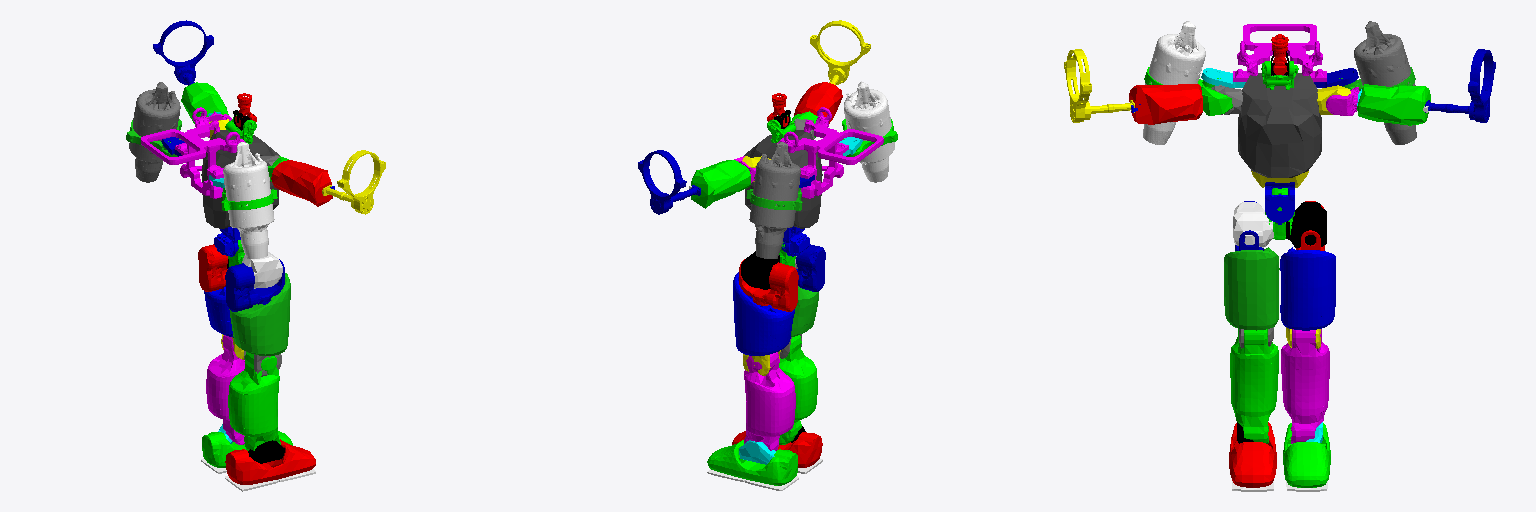
--- Render facts (derived) ---
3 views of the same robot in one strip: view 1: azimuth 30°, elevation 25°; view 2: azimuth 150°, elevation 25°; view 3: azimuth 270°, elevation 25° (orthographic).
Model iCub with 64 links and 63 joints (26 revolute, 37 fixed), rooted at root_link, posed all joints at 0 but 2 set to mid-range because 0 is outside their limits (l_shoulder_roll = 1.53, r_shoulder_roll = 1.53).
Links seen in each view (by area): view 1: r_lower_leg, chest_r_jet_turbine, chest_jetpack, r_hip_3, chest_l_jet_turbine, r_ankle_2, l_lower_leg, r_upper_arm, r_hip_2, chest, r_forearm, l_hip_2 (+8 smaller); view 2: l_lower_leg, chest_l_jet_turbine, chest_jetpack, l_hip_3, chest_r_jet_turbine, l_ankle_2, r_lower_leg, l_upper_arm, l_hip_2, chest, l_forearm, r_hip_2 (+8 smaller); view 3: chest, r_lower_leg, l_lower_leg, l_hip_3, r_hip_3, chest_l_jet_turbine, chest_r_jet_turbine, chest_jetpack, r_upper_arm, l_upper_arm, l_ankle_2, r_ankle_2 (+10 smaller).
Boxes of the visible links, x1,y1,x2,y2 form: r_lower_leg: [228, 352, 280, 450]; chest_r_jet_turbine: [223, 142, 274, 258]; chest_jetpack: [141, 107, 245, 198]; r_hip_3: [229, 273, 290, 355]; chest_l_jet_turbine: [129, 82, 180, 182]; r_ankle_2: [225, 439, 315, 484]; l_lower_leg: [206, 335, 244, 444]; r_upper_arm: [271, 160, 332, 206]; r_hip_2: [225, 259, 284, 311]; chest: [201, 130, 279, 228]; r_forearm: [322, 150, 385, 214]; l_hip_2: [198, 244, 227, 291]; l_lower_leg: [744, 352, 795, 450]; chest_l_jet_turbine: [749, 142, 800, 258]; chest_jetpack: [777, 107, 883, 198]; l_hip_3: [733, 272, 794, 355]; chest_r_jet_turbine: [844, 81, 894, 182]; l_ankle_2: [707, 440, 797, 485]; r_lower_leg: [779, 335, 817, 444]; l_upper_arm: [691, 160, 750, 208]; l_hip_2: [739, 259, 798, 311]; chest: [744, 130, 822, 228]; l_forearm: [638, 150, 700, 214]; r_hip_2: [796, 244, 825, 291]; chest: [1238, 73, 1321, 177]; r_lower_leg: [1230, 328, 1278, 443]; l_lower_leg: [1281, 329, 1329, 443]; l_hip_3: [1280, 247, 1335, 330]; r_hip_3: [1224, 247, 1279, 330]; chest_l_jet_turbine: [1354, 21, 1416, 144]; chest_r_jet_turbine: [1143, 21, 1205, 144]; chest_jetpack: [1233, 24, 1326, 81]; r_upper_arm: [1129, 84, 1202, 124]; l_upper_arm: [1357, 84, 1430, 125]; l_ankle_2: [1283, 423, 1330, 487]; r_ankle_2: [1229, 422, 1276, 487].
Bounding box of the posed robot: 0.4587 × 1.04 × 1.13 m (x, y, z).
44 mesh visuals loaded from 47 distinct referenced files (44 ASCII STL); not drawn: 3 (reference not matched to a file when rendering).

The robot description file, URDF, robot "iCub":
<robot name="iCub">
  <link name="root_link">
    <inertial>
      <origin xyz="0.0035506 -0.00014959200000000001 0.024519000000000013" rpy="0 0 -1.5707963267948966"/>
      <mass value="2.5751"/>
      <inertia ixx="0.004051489764137304" ixy="-2.0525354991945143e-06" ixz="-1.200186769383287e-05" iyy="0.004466379288694287" iyz="0.00011702292411912923" izz="0.002537512875376926"/>
    </inertial>
    <visual>
      <origin xyz="0 0 0.313858" rpy="0 0 -1.5707963267948966"/>
      <geometry>
        <mesh filename="package://iRonCub-Mk3/iRonCub/meshes/stl/sim_icub3_root_link_prt.stl" scale="0.001 0.001 0.001"/>
      </geometry>
      <material name="green">
        <color rgba="0 1 0 1"/>
      </material>
    </visual>
    <collision>
      <origin xyz="0 0 0.313858" rpy="0 0 -1.5707963267948966"/>
      <geometry>
        <mesh filename="package://iRonCub-Mk3/iRonCub/meshes/stl/sim_icub3_root_link_prt.stl" scale="0.001 0.001 0.001"/>
      </geometry>
    </collision>
  </link>
  <link name="l_hip_1">
    <inertial>
      <origin xyz="-0.004074100000000001 0.028123299999999997 -0.0007250000000000312" rpy="0 0 -1.5707963267948966"/>
      <mass value="2.1611"/>
      <inertia ixx="0.002595352643142238" ixy="-6.263538591577025e-05" ixz="2.7731363927618977e-06" iyy="0.0021193350821535318" iyz="-1.2725390435109447e-05" izz="0.0023619854835245473"/>
    </inertial>
    <visual>
      <origin xyz="-0.021600000000000064 -0.04044999999999981 0.31385800000000025" rpy="0 0 -1.5707963267948966"/>
      <geometry>
        <mesh filename="package://iRonCub-Mk3/iRonCub/meshes/stl/sim_icub3_l_hip_1_prt.stl" scale="0.001 0.001 0.001"/>
      </geometry>
      <material name="black">
        <color rgba="0 0 0 1"/>
      </material>
    </visual>
    <collision>
      <origin xyz="-0.021600000000000064 -0.04044999999999981 0.31385800000000025" rpy="0 0 -1.5707963267948966"/>
      <geometry>
        <mesh filename="package://iRonCub-Mk3/iRonCub/meshes/stl/sim_icub3_l_hip_1_prt.stl" scale="0.001 0.001 0.001"/>
      </geometry>
    </collision>
  </link>
  <joint name="l_hip_pitch" type="revolute">
    <origin xyz="0.0216 0.04045000000000001 0" rpy="0 0 0"/>
    <axis xyz="0.0 -1.0 0.0"/>
    <parent link="root_link"/>
    <child link="l_hip_1"/>
    <limit effort="50000" lower="-0.7853981633974483" upper="2.007128639793479" velocity="120.0"/>
    <dynamics damping="2.0" friction="0.0"/>
  </joint>
  <link name="l_hip_2">
    <inertial>
      <origin xyz="-0.003963800000000003 5.489999999999662e-05 -0.037538000000000016" rpy="0 0 -1.5707963267948966"/>
      <mass value="1.7731"/>
      <inertia ixx="0.005228411714595798" ixy="-4.083551966339624e-06" ixz="3.1651054869901453e-06" iyy="0.0029657585348029296" iyz="0.0009461829267401466" izz="0.0032766682222500967"/>
    </inertial>
    <visual>
      <origin xyz="0.025649999999999822 -0.07354999999999978 0.3228580000000002" rpy="0 0 -1.5707963267948966"/>
      <geometry>
        <mesh filename="package://iRonCub-Mk3/iRonCub/meshes/stl/sim_icub3_l_hip_2_prt.stl" scale="0.001 0.001 0.001"/>
      </geometry>
      <material name="red">
        <color rgba="1 0 0 1"/>
      </material>
    </visual>
    <collision>
      <origin xyz="0.025649999999999822 -0.07354999999999978 0.3228580000000002" rpy="0 0 -1.5707963267948966"/>
      <geometry>
        <mesh filename="package://iRonCub-Mk3/iRonCub/meshes/stl/sim_icub3_l_hip_2_prt.stl" scale="0.001 0.001 0.001"/>
      </geometry>
    </collision>
  </link>
  <joint name="l_hip_roll" type="revolute">
    <origin xyz="-0.04725 0.0331 -0.009000000000000008" rpy="0 0 0"/>
    <axis xyz="1.0 0.0 0.0"/>
    <parent link="l_hip_1"/>
    <child link="l_hip_2"/>
    <limit effort="50000" lower="-0.17453292519943295" upper="1.9547687622336491" velocity="120.0"/>
    <dynamics damping="2.0" friction="0.0"/>
  </joint>
  <link name="l_hip_3">
    <inertial>
      <origin xyz="0.0024416999999999998 -0.012306900000000003 -0.03819900000000004" rpy="0 0 -1.5707963267948966"/>
      <mass value="2.43975"/>
      <inertia ixx="0.0044412883972056874" ixy="3.3190647191151945e-06" ixz="-0.0001500433647365573" iyy="0.004161531735667295" iyz="1.0495343014441162e-05" izz="0.004168493190874654"/>
    </inertial>
    <visual>
      <origin xyz="-0.011050000000000178 -0.07354999999999977 0.41255800000000004" rpy="0 0 -1.5707963267948966"/>
      <geometry>
        <mesh filename="package://iRonCub-Mk3/iRonCub/meshes/stl/sim_icub3_l_hip_3_prt.stl" scale="0.001 0.001 0.001"/>
      </geometry>
      <material name="blue">
        <color rgba="0 0 1 1"/>
      </material>
    </visual>
    <collision>
      <origin xyz="-0.011050000000000178 -0.07354999999999977 0.41255800000000004" rpy="0 0 -1.5707963267948966"/>
      <geometry>
        <mesh filename="package://iRonCub-Mk3/iRonCub/meshes/stl/sim_icub3_l_hip_3_prt.stl" scale="0.001 0.001 0.001"/>
      </geometry>
    </collision>
  </link>
  <joint name="l_leg_ft_sensor" type="fixed">
    <origin xyz="0.036699999999999997 0 -0.08969999999999995" rpy="0 0 0"/>
    <parent link="l_hip_2"/>
    <child link="l_hip_3"/>
    <dynamics damping="0.1"/>
  </joint>
  <link name="l_upper_leg">
    <inertial>
      <origin xyz="0.005238099999999999 0.001499300000000009 -0.0518519999999999" rpy="0 0 -1.5707963267948966"/>
      <mass value="0.90926"/>
      <inertia ixx="0.0018580448030305287" ixy="2.4769869343548534e-05" ixz="-9.921040799831542e-05" iyy="0.0023253336863419895" iyz="0.00021961146368491691" izz="0.0010116953240355718"/>
    </inertial>
    <visual>
      <origin xyz="-0.011050000000000167 -0.05854999999999983 0.48345800000000017" rpy="0 0 -1.5707963267948966"/>
      <geometry>
        <mesh filename="package://iRonCub-Mk3/iRonCub/meshes/stl/sim_icub3_l_upper_leg_prt.stl" scale="0.001 0.001 0.001"/>
      </geometry>
      <material name="yellow">
        <color rgba="1 1 0 1"/>
      </material>
    </visual>
    <collision>
      <origin xyz="-0.011050000000000167 -0.05854999999999983 0.48345800000000017" rpy="0 0 -1.5707963267948966"/>
      <geometry>
        <mesh filename="package://iRonCub-Mk3/iRonCub/meshes/stl/sim_icub3_l_upper_leg_prt.stl" scale="0.001 0.001 0.001"/>
      </geometry>
    </collision>
  </link>
  <joint name="l_hip_yaw" type="revolute">
    <origin xyz="0 -0.015000000000000006 -0.07090000000000007" rpy="0 0 0"/>
    <axis xyz="0.0 0.0 1.0"/>
    <parent link="l_hip_3"/>
    <child link="l_upper_leg"/>
    <limit effort="50000" lower="-1.3962634015954636" upper="1.3962634015954636" velocity="120.0"/>
    <dynamics damping="2.0" friction="0.0"/>
  </joint>
  <link name="l_lower_leg">
    <inertial>
      <origin xyz="-0.0132211 -0.022063200000000005 -0.12639599999999995" rpy="0 0 -1.5707963267948966"/>
      <mass value="5.3241"/>
      <inertia ixx="0.05824701558729114" ixy="0.00010624602688798144" ixz="0.00032177799357201414" iyy="0.055706072617469723" iyz="-0.00018962183345080946" izz="0.006070627555679843"/>
    </inertial>
    <visual>
      <origin xyz="-0.026050000000000243 -0.08344999999999969 0.5896580000000001" rpy="0 0 -1.5707963267948966"/>
      <geometry>
        <mesh filename="package://iRonCub-Mk3/iRonCub/meshes/stl/sim_icub3_l_lower_leg_prt.stl" scale="0.001 0.001 0.001"/>
      </geometry>
      <material name="pink">
        <color rgba="1 0 1 1"/>
      </material>
    </visual>
    <collision>
      <origin xyz="-0.026050000000000243 -0.08344999999999969 0.5896580000000001" rpy="0 0 -1.5707963267948966"/>
      <geometry>
        <mesh filename="package://iRonCub-Mk3/iRonCub/meshes/stl/sim_icub3_l_lower_leg_prt.stl" scale="0.001 0.001 0.001"/>
      </geometry>
    </collision>
  </link>
  <joint name="l_knee" type="revolute">
    <origin xyz="0.015 0.024900000000000012 -0.10619999999999996" rpy="0 0 0"/>
    <axis xyz="0.0 -1.0 0.0"/>
    <parent link="l_upper_leg"/>
    <child link="l_lower_leg"/>
    <limit effort="50000" lower="-1.2217304763960306" upper="0.08726646259971647" velocity="120.0"/>
    <dynamics damping="2.0" friction="0.0"/>
  </joint>
  <link name="l_ankle_1">
    <inertial>
      <origin xyz="-0.0056708999999999996 -0.0004776000000000086 -0.015197000000000016" rpy="0 0 -1.5707963267948966"/>
      <mass value="0.36569"/>
      <inertia ixx="0.0006919069701304677" ixy="3.642221266176245e-05" ixz="6.0306968718434186e-05" iyy="0.00029801214087017225" iyz="-2.6804257582408287e-05" izz="0.0005496547611177806"/>
    </inertial>
    <visual>
      <origin xyz="-0.026050000000000052 -0.08295000000000005 0.8456470000000003" rpy="0 0 -1.5707963267948966"/>
      <geometry>
        <mesh filename="package://iRonCub-Mk3/iRonCub/meshes/stl/sim_icub3_l_ankle_1_prt.stl" scale="0.001 0.001 0.001"/>
      </geometry>
      <material name="cyan">
        <color rgba="0 1 1 1"/>
      </material>
    </visual>
    <collision>
      <origin xyz="-0.026050000000000052 -0.08295000000000005 0.8456470000000003" rpy="0 0 -1.5707963267948966"/>
      <geometry>
        <mesh filename="package://iRonCub-Mk3/iRonCub/meshes/stl/sim_icub3_l_ankle_1_prt.stl" scale="0.001 0.001 0.001"/>
      </geometry>
    </collision>
  </link>
  <joint name="l_ankle_pitch" type="revolute">
    <origin xyz="0 -0.0005000000000000004 -0.255989" rpy="0 0 0"/>
    <axis xyz="0.0 1.0 0.0"/>
    <parent link="l_lower_leg"/>
    <child link="l_ankle_1"/>
    <limit effort="50000" lower="-0.7853981633974483" upper="0.7853981633974483" velocity="120.0"/>
    <dynamics damping="2.0" friction="0.0"/>
  </joint>
  <link name="l_ankle_2">
    <inertial>
      <origin xyz="0.0417048 -5.500000000001337e-05 -0.02565099999999998" rpy="0 0 -1.5707963267948966"/>
      <mass value="1.53465"/>
      <inertia ixx="0.008276628548706496" ixy="5.786254688421673e-06" ixz="-4.092109028187411e-06" iyy="0.0017004608262408357" iyz="0.0012330199976826493" izz="0.008063087568467178"/>
    </inertial>
    <visual>
      <origin xyz="0.026699999999999342 -0.0647500000000001 0.8806470000000008" rpy="0 0 -1.5707963267948966"/>
      <geometry>
        <mesh filename="package://iRonCub-Mk3/iRonCub/meshes/stl/sim_icub3_l_ankle_2_prt.stl" scale="0.001 0.001 0.001"/>
      </geometry>
      <material name="green">
        <color rgba="0 1 0 1"/>
      </material>
    </visual>
    <collision>
      <origin xyz="0.026699999999999342 -0.0647500000000001 0.8806470000000008" rpy="0 0 -1.5707963267948966"/>
      <geometry>
        <mesh filename="package://iRonCub-Mk3/iRonCub/meshes/stl/sim_icub3_l_ankle_2_prt.stl" scale="0.001 0.001 0.001"/>
      </geometry>
    </collision>
  </link>
  <joint name="l_ankle_roll" type="revolute">
    <origin xyz="-0.052750000000000005 -0.018200000000000008 -0.03500000000000003" rpy="0 0 0"/>
    <axis xyz="1.0 0.0 0.0"/>
    <parent link="l_ankle_1"/>
    <child link="l_ankle_2"/>
    <limit effort="50000" lower="-0.4363323129985824" upper="0.4363323129985824" velocity="120.0"/>
    <dynamics damping="2.0" friction="0.0"/>
  </joint>
  <link name="l_foot_rear">
    <inertial>
      <origin xyz="0.0005056000000000001 3.350000000000575e-05 0.003658999999999968" rpy="0 0 -1.5707963267948966"/>
      <mass value="0.17851"/>
      <inertia ixx="0.00028386984946481193" ixy="-3.8140209422126887e-07" ixz="3.3779281136245455e-06" iyy="0.00022675202580603227" iyz="8.141588837428499e-06" izz="0.00036516477016163983"/>
    </inertial>
    <visual>
      <origin xyz="0.010699999999999342 -0.06475000000000009 0.9464470000000004" rpy="0 0 -1.5707963267948966"/>
      <geometry>
        <mesh filename="package://iRonCub-Mk3/iRonCub/meshes/stl/sim_icub3_l_foot_rear_prt.stl" scale="0.001 0.001 0.001"/>
      </geometry>
      <material name="l_foot_rear_color">
        <color rgba="1.0 1.0 1.0 1.0"/>
      </material>
    </visual>
    <collision>
      <origin xyz="0.010699999999999342 -0.06475000000000009 0.9464470000000004" rpy="0 0 -1.5707963267948966"/>
      <geometry>
        <mesh filename="package://iRonCub-Mk3/iRonCub/meshes/stl/sim_icub3_l_foot_rear_prt.stl" scale="0.001 0.001 0.001"/>
      </geometry>
    </collision>
  </link>
  <joint name="l_foot_rear_ft_sensor" type="fixed">
    <origin xyz="0.016 0 -0.06579999999999997" rpy="0 0 0"/>
    <parent link="l_ankle_2"/>
    <child link="l_foot_rear"/>
    <dynamics damping="0.1"/>
  </joint>
  <link name="l_sole"/>
  <joint name="l_sole_fixed_joint" type="fixed">
    <origin xyz="0.05963 0 0" rpy="0 0 0"/>
    <parent link="l_foot_rear"/>
    <child link="l_sole"/>
    <dynamics damping="0.1"/>
  </joint>
  <link name="l_sole_3"/>
  <joint name="l_sole_3_fixed_joint" type="fixed">
    <origin xyz="-0.035 -0.02475 0" rpy="0 0 0"/>
    <parent link="l_foot_rear"/>
    <child link="l_sole_3"/>
    <dynamics damping="0.1"/>
  </joint>
  <link name="l_sole_4"/>
  <joint name="l_sole_4_fixed_joint" type="fixed">
    <origin xyz="-0.035 0.03025 0" rpy="0 0 0"/>
    <parent link="l_foot_rear"/>
    <child link="l_sole_4"/>
    <dynamics damping="0.1"/>
  </joint>
  <link name="l_foot_front">
    <inertial>
      <origin xyz="7.700000000000762e-05 -3.990000000000937e-05 0.004256999999999955" rpy="0 0 -1.5707963267948966"/>
      <mass value="0.17896"/>
      <inertia ixx="0.00032486721722121964" ixy="3.5467003209527003e-07" ixz="2.7144049104682455e-07" iyy="0.00025600096782908466" iyz="3.4960507170104935e-05" izz="0.00037767895393194076"/>
    </inertial>
    <visual>
      <origin xyz="-0.10855000000000063 -0.06475000000000009 0.9464470000000004" rpy="0 0 -1.5707963267948966"/>
      <geometry>
        <mesh filename="package://iRonCub-Mk3/iRonCub/meshes/stl/sim_icub3_l_foot_front_prt.stl" scale="0.001 0.001 0.001"/>
      </geometry>
      <material name="l_foot_front_color">
        <color rgba="1.0 1.0 1.0 1.0"/>
      </material>
    </visual>
    <collision>
      <origin xyz="-0.10855000000000063 -0.06475000000000009 0.9464470000000004" rpy="0 0 -1.5707963267948966"/>
      <geometry>
        <mesh filename="package://iRonCub-Mk3/iRonCub/meshes/stl/sim_icub3_l_foot_front_prt.stl" scale="0.001 0.001 0.001"/>
      </geometry>
    </collision>
  </link>
  <joint name="l_foot_front_ft_sensor" type="fixed">
    <origin xyz="0.13524999999999998 0 -0.06579999999999997" rpy="0 0 0"/>
    <parent link="l_ankle_2"/>
    <child link="l_foot_front"/>
    <dynamics damping="0.1"/>
  </joint>
  <link name="l_sole_1"/>
  <joint name="l_sole_1_fixed_joint" type="fixed">
    <origin xyz="0.02500000000000001 0.025249999999999995 0" rpy="0 0 0"/>
    <parent link="l_foot_front"/>
    <child link="l_sole_1"/>
    <dynamics damping="0.1"/>
  </joint>
  <link name="l_sole_2"/>
  <joint name="l_sole_2_fixed_joint" type="fixed">
    <origin xyz="0.02500000000000001 -0.02475 0" rpy="0 0 0"/>
    <parent link="l_foot_front"/>
    <child link="l_sole_2"/>
    <dynamics damping="0.1"/>
  </joint>
  <link name="r_hip_1">
    <inertial>
      <origin xyz="-0.004106499999999999 -0.02810980000000001 -0.0008360000000000034" rpy="0 0 -1.5707963267948966"/>
      <mass value="2.1623"/>
      <inertia ixx="0.002675989970439473" ixy="6.426984653122192e-05" ixz="-6.447456052305588e-06" iyy="0.0021990073364667796" iyz="-1.5695577440979572e-05" izz="0.002366627191660443"/>
    </inertial>
    <visual>
      <origin xyz="-0.0216 0.04054999999999986 0.313858" rpy="0 0 -1.5707963267948966"/>
      <geometry>
        <mesh filename="package://iRonCub-Mk3/iRonCub/meshes/stl/sim_icub3_r_hip_1_prt.stl" scale="0.001 0.001 0.001"/>
      </geometry>
      <material name="white">
        <color rgba="1 1 1 1"/>
      </material>
    </visual>
    <collision>
      <origin xyz="-0.0216 0.04054999999999986 0.313858" rpy="0 0 -1.5707963267948966"/>
      <geometry>
        <mesh filename="package://iRonCub-Mk3/iRonCub/meshes/stl/sim_icub3_r_hip_1_prt.stl" scale="0.001 0.001 0.001"/>
      </geometry>
    </collision>
  </link>
  <joint name="r_hip_pitch" type="revolute">
    <origin xyz="0.0216 -0.040549999999999996 0" rpy="0 0 0"/>
    <axis xyz="0.0 -1.0 0.0"/>
    <parent link="root_link"/>
    <child link="r_hip_1"/>
    <limit effort="50000" lower="-0.7853981633974483" upper="2.007128639793479" velocity="120.0"/>
    <dynamics damping="2.0" friction="0.0"/>
  </joint>
  <link name="r_hip_2">
    <inertial>
      <origin xyz="-0.003963499999999998 -7.010000000000349e-05 -0.03753499999999993" rpy="0 0 -1.5707963267948966"/>
      <mass value="1.7731"/>
      <inertia ixx="0.005229204654206729" ixy="4.628243459077994e-06" ixz="-3.2636330686460046e-06" iyy="0.0029659325947175245" iyz="0.0009467254134739666" izz="0.00327641680237346"/>
    </inertial>
    <visual>
      <origin xyz="0.025699999999999973 0.07364999999999984 0.3228580000000001" rpy="0 0 -1.5707963267948966"/>
      <geometry>
        <mesh filename="package://iRonCub-Mk3/iRonCub/meshes/stl/sim_icub3_r_hip_2_prt.stl" scale="0.001 0.001 0.001"/>
      </geometry>
      <material name="dblue">
        <color rgba="0 0 0.8 1"/>
      </material>
    </visual>
    <collision>
      <origin xyz="0.025699999999999973 0.07364999999999984 0.3228580000000001" rpy="0 0 -1.5707963267948966"/>
      <geometry>
        <mesh filename="package://iRonCub-Mk3/iRonCub/meshes/stl/sim_icub3_r_hip_2_prt.stl" scale="0.001 0.001 0.001"/>
      </geometry>
    </collision>
  </link>
  <joint name="r_hip_roll" type="revolute">
    <origin xyz="-0.0473 -0.03310000000000001 -0.009000000000000008" rpy="0 0 0"/>
    <axis xyz="-1.0 0.0 0.0"/>
    <parent link="r_hip_1"/>
    <child link="r_hip_2"/>
    <limit effort="50000" lower="-0.17453292519943295" upper="1.9547687622336491" velocity="120.0"/>
    <dynamics damping="2.0" friction="0.0"/>
  </joint>
  <link name="r_hip_3">
    <inertial>
      <origin xyz="0.0024329000000000017 0.01233370000000001 -0.038242000000000054" rpy="0 0 -1.5707963267948966"/>
      <mass value="2.43975"/>
      <inertia ixx="0.004485784047483899" ixy="-2.3350782161357655e-06" ixz="0.0001440226606671166" iyy="0.00420681558758196" iyz="1.1762844743205253e-05" izz="0.0041711798557694454"/>
    </inertial>
    <visual>
      <origin xyz="-0.011000000000000029 0.07364999999999984 0.41255800000000004" rpy="0 0 -1.5707963267948966"/>
      <geometry>
        <mesh filename="package://iRonCub-Mk3/iRonCub/meshes/stl/sim_icub3_r_hip_3_prt.stl" scale="0.001 0.001 0.001"/>
      </geometry>
      <material name="dgreen">
        <color rgba="0.1 0.8 0.1 1"/>
      </material>
    </visual>
    <collision>
      <origin xyz="-0.011000000000000029 0.07364999999999984 0.41255800000000004" rpy="0 0 -1.5707963267948966"/>
      <geometry>
        <mesh filename="package://iRonCub-Mk3/iRonCub/meshes/stl/sim_icub3_r_hip_3_prt.stl" scale="0.001 0.001 0.001"/>
      </geometry>
    </collision>
  </link>
  <joint name="r_leg_ft_sensor" type="fixed">
    <origin xyz="0.036699999999999997 0 -0.08969999999999995" rpy="0 0 0"/>
    <parent link="r_hip_2"/>
    <child link="r_hip_3"/>
    <dynamics damping="0.1"/>
  </joint>
  <link name="r_upper_leg">
    <inertial>
      <origin xyz="0.005240300000000003 -0.0014998000000000025 -0.05185799999999996" rpy="0 0 -1.5707963267948966"/>
      <mass value="0.90926"/>
      <inertia ixx="0.0018609457769770859" ixy="-2.472258346821965e-05" ixz="9.915722347596187e-05" iyy="0.0023282830098543227" iyz="0.00022002726995059012" izz="0.001011608294817175"/>
    </inertial>
    <visual>
      <origin xyz="-0.011000000000000012 0.05864999999999984 0.48345800000000005" rpy="0 0 -1.5707963267948966"/>
      <geometry>
        <mesh filename="package://iRonCub-Mk3/iRonCub/meshes/stl/sim_icub3_r_upper_leg_prt.stl" scale="0.001 0.001 0.001"/>
      </geometry>
      <material name="gray">
        <color rgba="0.5 0.5 0.5 1"/>
      </material>
    </visual>
    <collision>
      <origin xyz="-0.011000000000000012 0.05864999999999984 0.48345800000000005" rpy="0 0 -1.5707963267948966"/>
      <geometry>
        <mesh filename="package://iRonCub-Mk3/iRonCub/meshes/stl/sim_icub3_r_upper_leg_prt.stl" scale="0.001 0.001 0.001"/>
      </geometry>
    </collision>
  </link>
  <joint name="r_hip_yaw" type="revolute">
    <origin xyz="0 0.015000000000000006 -0.07090000000000007" rpy="0 0 0"/>
    <axis xyz="0.0 0.0 -1.0"/>
    <parent link="r_hip_3"/>
    <child link="r_upper_leg"/>
    <limit effort="50000" lower="-1.3962634015954636" upper="1.3962634015954636" velocity="120.0"/>
    <dynamics damping="2.0" friction="0.0"/>
  </joint>
  <link name="r_lower_leg">
    <inertial>
      <origin xyz="-0.013102400000000002 0.021986699999999998 -0.127262" rpy="0 0 -1.5707963267948966"/>
      <mass value="5.3241"/>
      <inertia ixx="0.058569724854460666" ixy="-0.00011067195586576853" ixz="-0.0002647293063069585" iyy="0.05601996956627755" iyz="-0.00013332765738821662" izz="0.006068235025831327"/>
    </inertial>
    <visual>
      <origin xyz="-0.026000000000000037 0.0835499999999998 0.589658" rpy="0 0 -1.5707963267948966"/>
      <geometry>
        <mesh filename="package://iRonCub-Mk3/iRonCub/meshes/stl/sim_icub3_r_lower_leg_prt.stl" scale="0.001 0.001 0.001"/>
      </geometry>
      <material name="green">
        <color rgba="0 1 0 1"/>
      </material>
    </visual>
    <collision>
      <origin xyz="-0.026000000000000037 0.0835499999999998 0.589658" rpy="0 0 -1.5707963267948966"/>
      <geometry>
        <mesh filename="package://iRonCub-Mk3/iRonCub/meshes/stl/sim_icub3_r_lower_leg_prt.stl" scale="0.001 0.001 0.001"/>
      </geometry>
    </collision>
  </link>
  <joint name="r_knee" type="revolute">
    <origin xyz="0.015000000000000003 -0.0249 -0.10619999999999996" rpy="0 0 0"/>
    <axis xyz="0.0 -1.0 0.0"/>
    <parent link="r_upper_leg"/>
    <child link="r_lower_leg"/>
    <limit effort="50000" lower="-1.2217304763960306" upper="0.08726646259971647" velocity="120.0"/>
    <dynamics damping="2.0" friction="0.0"/>
  </joint>
  <link name="r_ankle_1">
    <inertial>
      <origin xyz="-0.005665800000000002 0.0004764000000000018 -0.015185999999999922" rpy="0 0 -1.5707963267948966"/>
      <mass value="0.36569"/>
      <inertia ixx="0.0007008795637504032" ixy="-3.63258049040399e-05" ixz="-6.07134864852001e-05" iyy="0.00030702728154466944" iyz="-2.6127082529919777e-05" izz="0.0005495280869326084"/>
    </inertial>
    <visual>
      <origin xyz="-0.026000000000000245 0.08304999999999924 0.8456470000000003" rpy="0 0 -1.5707963267948966"/>
      <geometry>
        <mesh filename="package://iRonCub-Mk3/iRonCub/meshes/stl/sim_icub3_r_ankle_1_prt.stl" scale="0.001 0.001 0.001"/>
      </geometry>
      <material name="black">
        <color rgba="0 0 0 1"/>
      </material>
    </visual>
    <collision>
      <origin xyz="-0.026000000000000245 0.08304999999999924 0.8456470000000003" rpy="0 0 -1.5707963267948966"/>
      <geometry>
        <mesh filename="package://iRonCub-Mk3/iRonCub/meshes/stl/sim_icub3_r_ankle_1_prt.stl" scale="0.001 0.001 0.001"/>
      </geometry>
    </collision>
  </link>
  <joint name="r_ankle_pitch" type="revolute">
    <origin xyz="0 0.0005000000000000004 -0.255989" rpy="0 0 0"/>
    <axis xyz="0.0 1.0 0.0"/>
    <parent link="r_lower_leg"/>
    <child link="r_ankle_1"/>
    <limit effort="50000" lower="-0.7853981633974483" upper="0.7853981633974483" velocity="120.0"/>
    <dynamics damping="2.0" friction="0.0"/>
  </joint>
  <link name="r_ankle_2">
    <inertial>
      <origin xyz="0.0417371 5.619999999997849e-05 -0.025592999999999977" rpy="0 0 -1.5707963267948966"/>
      <mass value="1.53465"/>
      <inertia ixx="0.008359137510182012" ixy="-6.658498141958317e-06" ixz="1.6236202151564518e-06" iyy="0.001778865481574069" iyz="0.001241649614839054" izz="0.008067236320993203"/>
    </inertial>
    <visual>
      <origin xyz="0.026749999999999875 0.0648499999999391 0.8806470000000108" rpy="0 0 -1.5707963267948966"/>
      <geometry>
        <mesh filename="package://iRonCub-Mk3/iRonCub/meshes/stl/sim_icub3_r_ankle_2_prt.stl" scale="0.001 0.001 0.001"/>
      </geometry>
      <material name="red">
        <color rgba="1 0 0 1"/>
      </material>
    </visual>
    <collision>
      <origin xyz="0.026749999999999875 0.0648499999999391 0.8806470000000108" rpy="0 0 -1.5707963267948966"/>
      <geometry>
        <mesh filename="package://iRonCub-Mk3/iRonCub/meshes/stl/sim_icub3_r_ankle_2_prt.stl" scale="0.001 0.001 0.001"/>
      </geometry>
    </collision>
  </link>
  <joint name="r_ankle_roll" type="revolute">
    <origin xyz="-0.052750000000000005 0.018200000000000008 -0.03500000000000003" rpy="0 0 0"/>
    <axis xyz="-1.0 0.0 0.0"/>
    <parent link="r_ankle_1"/>
    <child link="r_ankle_2"/>
    <limit effort="50000" lower="-0.4363323129985824" upper="0.4363323129985824" velocity="120.0"/>
    <dynamics damping="2.0" friction="0.0"/>
  </joint>
  <link name="r_foot_front">
    <inertial>
      <origin xyz="-0.0004180000000000017 0.0004849999999999993 0.005581000000000058" rpy="0 0 -1.5707963267948966"/>
      <mass value="0.17964"/>
      <inertia ixx="0.0004475629748133475" ixy="-1.1622018441861841e-05" ixz="2.9686391650024495e-05" iyy="0.0003761336092973683" iyz="7.056362242091155e-05" izz="0.00040019707061844293"/>
    </inertial>
    <visual>
      <origin xyz="-0.10850000000000012 0.0648499999999391 0.9464470000000105" rpy="0 0 -1.5707963267948966"/>
      <geometry>
        <mesh filename="package://iRonCub-Mk3/iRonCub/meshes/stl/sim_icub3_r_foot_front_prt.stl" scale="0.001 0.001 0.001"/>
      </geometry>
      <material name="r_foot_front_color">
        <color rgba="1.0 1.0 1.0 1.0"/>
      </material>
    </visual>
    <collision>
      <origin xyz="-0.10850000000000012 0.0648499999999391 0.9464470000000105" rpy="0 0 -1.5707963267948966"/>
      <geometry>
        <mesh filename="package://iRonCub-Mk3/iRonCub/meshes/stl/sim_icub3_r_foot_front_prt.stl" scale="0.001 0.001 0.001"/>
      </geometry>
    </collision>
  </link>
  <joint name="r_foot_front_ft_sensor" type="fixed">
    <origin xyz="0.13525 0 -0.06579999999999997" rpy="0 0 0"/>
    <parent link="r_ankle_2"/>
    <child link="r_foot_front"/>
    <dynamics damping="0.1"/>
  </joint>
  <link name="r_sole_1"/>
  <joint name="r_sole_1_fixed_joint" type="fixed">
    <origin xyz="0.02500000000000001 -0.025150000000000006 0" rpy="0 0 0"/>
    <parent link="r_foot_front"/>
    <child link="r_sole_1"/>
    <dynamics damping="0.1"/>
  </joint>
  <link name="r_sole_2"/>
  <joint name="r_sole_2_fixed_joint" type="fixed">
    <origin xyz="0.02500000000000001 0.02484999999999999 0" rpy="0 0 0"/>
    <parent link="r_foot_front"/>
    <child link="r_sole_2"/>
    <dynamics damping="0.1"/>
  </joint>
  <link name="r_foot_rear">
    <inertial>
      <origin xyz="0.0006180999999999999 7.079999999998199e-05 0.003514000000000017" rpy="0 0 -1.5707963267948966"/>
      <mass value="0.17874"/>
      <inertia ixx="0.00023837060598027492" ixy="1.5972601165325875e-07" ixz="2.851962872955676e-06" iyy="0.00018229756818021977" iyz="-1.2898142814635283e-06" izz="0.0003645245458529223"/>
    </inertial>
    <visual>
      <origin xyz="0.010749999999999876 0.0648499999999391 0.9464470000000105" rpy="0 0 -1.5707963267948966"/>
      <geometry>
        <mesh filename="package://iRonCub-Mk3/iRonCub/meshes/stl/sim_icub3_r_foot_rear_prt.stl" scale="0.001 0.001 0.001"/>
      </geometry>
      <material name="r_foot_rear_color">
        <color rgba="1.0 1.0 1.0 1.0"/>
      </material>
    </visual>
    <collision>
      <origin xyz="0.010749999999999876 0.0648499999999391 0.9464470000000105" rpy="0 0 -1.5707963267948966"/>
      <geometry>
        <mesh filename="package://iRonCub-Mk3/iRonCub/meshes/stl/sim_icub3_r_foot_rear_prt.stl" scale="0.001 0.001 0.001"/>
      </geometry>
    </collision>
  </link>
  <joint name="r_foot_rear_ft_sensor" type="fixed">
    <origin xyz="0.016 0 -0.06579999999999997" rpy="0 0 0"/>
    <parent link="r_ankle_2"/>
    <child link="r_foot_rear"/>
    <dynamics damping="0.1"/>
  </joint>
  <link name="r_sole"/>
  <joint name="r_sole_fixed_joint" type="fixed">
    <origin xyz="0.05963000000000001 0 0" rpy="0 0 0"/>
    <parent link="r_foot_rear"/>
    <child link="r_sole"/>
    <dynamics damping="0.1"/>
  </joint>
  <link name="r_sole_4"/>
  <joint name="r_sole_4_fixed_joint" type="fixed">
    <origin xyz="-0.034999999999999996 -0.03015000000000001 0" rpy="0 0 0"/>
    <parent link="r_foot_rear"/>
    <child link="r_sole_4"/>
    <dynamics damping="0.1"/>
  </joint>
  <link name="r_sole_3"/>
  <joint name="r_sole_3_fixed_joint" type="fixed">
    <origin xyz="-0.034999999999999996 0.02484999999999999 0" rpy="0 0 0"/>
    <parent link="r_foot_rear"/>
    <child link="r_sole_3"/>
    <dynamics damping="0.1"/>
  </joint>
  <link name="torso_1">
    <inertial>
      <origin xyz="-0.008004200000000001 0.000351303 0.051944000000000046" rpy="0 0 -1.5707963267948966"/>
      <mass value="1.8989"/>
      <inertia ixx="0.0038024477026934725" ixy="1.2239671000204914e-06" ixz="-5.050107277839758e-06" iyy="0.0029226483914300675" iyz="-0.00035973651191912757" izz="0.0023018125890803946"/>
    </inertial>
    <visual>
      <origin xyz="0 5e-05 0.2533580000000001" rpy="0 0 -1.5707963267948966"/>
      <geometry>
        <mesh filename="package://iRonCub-Mk3/iRonCub/meshes/stl/sim_icub3_torso_1_prt.stl" scale="0.001 0.001 0.001"/>
      </geometry>
      <material name="blue">
        <color rgba="0 0 1 1"/>
      </material>
    </visual>
    <collision>
      <origin xyz="0 5e-05 0.2533580000000001" rpy="0 0 -1.5707963267948966"/>
      <geometry>
        <mesh filename="package://iRonCub-Mk3/iRonCub/meshes/stl/sim_icub3_torso_1_prt.stl" scale="0.001 0.001 0.001"/>
      </geometry>
    </collision>
  </link>
  <joint name="torso_roll" type="revolute">
    <origin xyz="0 -5e-05 0.0605" rpy="0 0 0"/>
    <axis xyz="-1.0 0.0 0.0"/>
    <parent link="root_link"/>
    <child link="torso_1"/>
    <limit effort="50000" lower="-0.4014257279586958" upper="0.4014257279586958" velocity="120.0"/>
    <dynamics damping="2.0" friction="0.0"/>
  </joint>
  <link name="torso_2">
    <inertial>
      <origin xyz="0.00131935 0.00332192 0.026808" rpy="0 0 -1.5707963267948966"/>
      <mass value="0.77098"/>
      <inertia ixx="0.0008105413874308448" ixy="-3.5442504712774724e-06" ixz="-7.21480883330135e-05" iyy="0.0014602573028254073" iyz="-1.0808501368993641e-05" izz="0.0012107068713070723"/>
    </inertial>
    <visual>
      <origin xyz="0 0 0.18085800000000019" rpy="0 0 -1.5707963267948966"/>
      <geometry>
        <mesh filename="package://iRonCub-Mk3/iRonCub/meshes/stl/sim_icub3_torso_2_prt.stl" scale="0.001 0.001 0.001"/>
      </geometry>
      <material name="yellow">
        <color rgba="1 1 0 1"/>
      </material>
    </visual>
    <collision>
      <origin xyz="0 0 0.18085800000000019" rpy="0 0 -1.5707963267948966"/>
      <geometry>
        <mesh filename="package://iRonCub-Mk3/iRonCub/meshes/stl/sim_icub3_torso_2_prt.stl" scale="0.001 0.001 0.001"/>
      </geometry>
    </collision>
  </link>
  <joint name="torso_pitch" type="revolute">
    <origin xyz="0 5e-05 0.07250000000000001" rpy="0 0 0"/>
    <axis xyz="0.0 1.0 0.0"/>
    <parent link="torso_1"/>
    <child link="torso_2"/>
    <limit effort="50000" lower="-0.3141592653589793" upper="0.7853981633974483" velocity="120.0"/>
    <dynamics damping="2.0" friction="0.0"/>
  </joint>
  <link name="chest">
    <inertial>
      <origin xyz="-0.00597433 -7.26041e-05 0.06416630000000001" rpy="0 0 -1.5707963267948966"/>
      <mass value="8.8237"/>
      <inertia ixx="0.039708617760736864" ixy="6.204355274120594e-05" ixz="0.00016506620484397756" iyy="0.03867392720151877" iyz="-0.002048920943396954" izz="0.03467001611831408"/>
    </inertial>
    <visual>
      <origin xyz="0 0 0.11638800000000014" rpy="0 0 -1.5707963267948966"/>
      <geometry>
        <mesh filename="package://iRonCub-Mk3/iRonCub/meshes/stl/sim_icub3_chest_prt.stl" scale="0.001 0.001 0.001"/>
      </geometry>
      <material name="chest_color">
        <color rgba="0.313725 0.313725 0.313725 1.0"/>
      </material>
    </visual>
    <collision>
      <origin xyz="0 0 0.11638800000000014" rpy="0 0 -1.5707963267948966"/>
      <geometry>
        <mesh filename="package://iRonCub-Mk3/iRonCub/meshes/stl/sim_icub3_chest_prt.stl" scale="0.001 0.001 0.001"/>
      </geometry>
    </collision>
  </link>
  <joint name="torso_yaw" type="revolute">
    <origin xyz="0 0 0.06447000000000001" rpy="0 0 0"/>
    <axis xyz="0.0 0.0 -1.0"/>
    <parent link="torso_2"/>
    <child link="chest"/>
    <limit effort="50000" lower="-0.7504915783575618" upper="0.7504915783575618" velocity="120.0"/>
    <dynamics damping="2.0" friction="0.0"/>
  </joint>
  <link name="chest_depth_frame"/>
  <joint name="chest_depth_frame_fixed_joint" type="fixed">
    <origin xyz="0.0894115 0.0175 0.09929950000000001" rpy="-1.5707963267948968 0 -1.5707963267948968"/>
    <parent link="chest"/>
    <child link="chest_depth_frame"/>
    <dynamics damping="0.1"/>
  </joint>
  <link name="chest_rgb_frame"/>
  <joint name="chest_rgb_frame_fixed_joint" type="fixed">
    <origin xyz="0.0894115 -0.0115 0.09929950000000001" rpy="-1.5707963267948968 0 -1.5707963267948968"/>
    <parent link="chest"/>
    <child link="chest_rgb_frame"/>
    <dynamics damping="0.1"/>
  </joint>
  <link name="chest_jetpack">
    <inertial>
      <origin xyz="-0.08999715696999999 -0.0664036 -0.04002099999999999" rpy="1.5707963267948966 0 3.141592653589793"/>
      <mass value="1.80559"/>
      <inertia ixx="0.0108291" ixy="0.0" ixz="0.0" iyy="0.0139177" iyz="0.000593622" izz="0.0136849"/>
    </inertial>
    <visual>
      <origin xyz="-0.09000000000000005 -0.10369599999999986 0.08499999999999977" rpy="1.5707963267948966 0 3.141592653589793"/>
      <geometry>
        <mesh filename="package://iRonCub-Mk3/iRonCub/meshes/stl/sim_sea_3_jetpack_prt.stl" scale="0.001 0.001 0.001"/>
      </geometry>
      <material name="pink">
        <color rgba="1 0 1 1"/>
      </material>
    </visual>
    <collision>
      <origin xyz="-0.09000000000000005 -0.10369599999999986 0.08499999999999977" rpy="1.5707963267948966 0 3.141592653589793"/>
      <geometry>
        <mesh filename="package://iRonCub-Mk3/iRonCub/meshes/stl/sim_sea_3_jetpack_prt.stl" scale="0.001 0.001 0.001"/>
      </geometry>
    </collision>
  </link>
  <joint name="jetpack" type="fixed">
    <origin xyz="-0.085 0.09 0.220084" rpy="1.5707963267948968 0 1.5707963267948968"/>
    <parent link="chest"/>
    <child link="chest_jetpack"/>
    <dynamics damping="0.1"/>
  </joint>
  <link name="L_BRACKET"/>
  <joint name="L_BRACKET_fixed_joint" type="fixed">
    <origin xyz="0.0025000000000000022 -0.108446 -0.045" rpy="1.5707963267948966 0 0"/>
    <parent link="chest_jetpack"/>
    <child link="L_BRACKET"/>
    <dynamics damping="0.1"/>
  </joint>
  <link name="R_BRACKET"/>
  <joint name="R_BRACKET_fixed_joint" type="fixed">
    <origin xyz="-0.1825 -0.108446 -0.045" rpy="-1.570796326794897 0 3.141592653589793"/>
    <parent link="chest_jetpack"/>
    <child link="R_BRACKET"/>
    <dynamics damping="0.1"/>
  </joint>
  <link name="chest_r_bracket">
    <inertial>
      <origin xyz="0.040186 0 -0.013638599999999994" rpy="3.141592653589793 0 3.141592653589793"/>
      <mass value="0.227881"/>
      <inertia ixx="6.77007e-05" ixy="0.0" ixz="3.71713e-05" iyy="0.000218828" iyz="0.0" izz="0.00026268"/>
    </inertial>
    <visual>
      <origin xyz="-0.0925 0.12999999999999995 -0.004749999999999998" rpy="3.141592653589793 0 3.141592653589793"/>
      <geometry>
        <mesh filename="package://iRonCub-Mk3/iRonCub/meshes/stl/sim_sea_3_r_bracket_prt.stl" scale="0.001 0.001 0.001"/>
      </geometry>
      <material name="cyan">
        <color rgba="0 1 1 1"/>
      </material>
    </visual>
    <collision>
      <origin xyz="-0.0925 0.12999999999999995 -0.004749999999999998" rpy="3.141592653589793 0 3.141592653589793"/>
      <geometry>
        <mesh filename="package://iRonCub-Mk3/iRonCub/meshes/stl/sim_sea_3_r_bracket_prt.stl" scale="0.001 0.001 0.001"/>
      </geometry>
    </collision>
  </link>
  <joint name="r_bracket" type="fixed">
    <origin xyz="-0.1825 -0.108446 -0.045" rpy="-1.570796326794897 0 3.141592653589793"/>
    <parent link="chest_jetpack"/>
    <child link="chest_r_bracket"/>
    <dynamics damping="0.1"/>
  </joint>
  <link name="chest_r_turbine_support">
    <inertial>
      <origin xyz="0.033974948560747814 1.000000000001e-06 0.025325496432461944" rpy="3.141592653589793 -0.26179931982715643 0"/>
      <mass value="0.513465"/>
      <inertia ixx="0.000737005" ixy="-1.84704e-08" ixz="-0.000203475" iyy="0.00132011" iyz="0.0" izz="0.00185737"/>
    </inertial>
    <visual>
      <origin xyz="-0.15624417980240066 -0.12999999999999978 -0.033999472494660433" rpy="3.141592653589793 -0.26179931982715643 0"/>
      <geometry>
        <mesh filename="package://iRonCub-Mk3/iRonCub/meshes/stl/sim_sea_3_r_turbine_support_prt.stl" scale="0.001 0.001 0.001"/>
      </geometry>
      <material name="green">
        <color rgba="0 1 0 1"/>
      </material>
    </visual>
    <collision>
      <origin xyz="-0.15624417980240066 -0.12999999999999978 -0.033999472494660433" rpy="3.141592653589793 -0.26179931982715643 0"/>
      <geometry>
        <mesh filename="package://iRonCub-Mk3/iRonCub/meshes/stl/sim_sea_3_r_turbine_support_prt.stl" scale="0.001 0.001 0.001"/>
      </geometry>
    </collision>
  </link>
  <joint name="r_turbine_support" type="fixed">
    <origin xyz="0.06722 0 -0.012347989999999996" rpy="0 0.26179931982715643 0"/>
    <parent link="chest_r_bracket"/>
    <child link="chest_r_turbine_support"/>
    <dynamics damping="0.1"/>
  </joint>
  <link name="chest_r_jet_turbine">
    <inertial>
      <origin xyz="5.000000000002197e-05 -6.602469999855698e-05 -0.15870252299023924" rpy="3.141592653589793 -0.26179931982715643 1.5707963267948968"/>
      <mass value="2.115"/>
      <inertia ixx="0.00787141" ixy="7.21352e-06" ixz="0.00136635" iyy="0.0082371" iyz="-1.12055e-05" izz="0.0031427"/>
    </inertial>
    <visual>
      <origin xyz="0.12971099999999988 -0.25124341315963833 -0.22335106276867228" rpy="3.141592653589793 -0.26179931982715643 1.5707963267948968"/>
      <geometry>
        <mesh filename="package://iRonCub-Mk3/iRonCub/meshes/stl/sim_sea_3_r_jet_turbine_prt.stl" scale="0.001 0.001 0.001"/>
      </geometry>
      <material name="white">
        <color rgba="1 1 1 1"/>
      </material>
    </visual>
    <collision>
      <origin xyz="0.12971099999999988 -0.25124341315963833 -0.22335106276867228" rpy="3.141592653589793 -0.26179931982715643 1.5707963267948968"/>
      <geometry>
        <mesh filename="package://iRonCub-Mk3/iRonCub/meshes/stl/sim_sea_3_r_jet_turbine_prt.stl" scale="0.001 0.001 0.001"/>
      </geometry>
    </collision>
  </link>
  <joint name="r_jet_turbine" type="fixed">
    <origin xyz="0.09499923335723759 -0.0002889999999999837 0.1893515902740118" rpy="0 0 -1.5707963267948966"/>
    <parent link="chest_r_turbine_support"/>
    <child link="chest_r_jet_turbine"/>
    <dynamics damping="0.1"/>
  </joint>
  <link name="chest_l_bracket">
    <inertial>
      <origin xyz="0.040185999999999986 0 -0.013638599999999994" rpy="3.141592653589793 0 3.141592653589793"/>
      <mass value="0.227881"/>
      <inertia ixx="6.77007e-05" ixy="0.0" ixz="3.71713e-05" iyy="0.000218828" iyz="0.0" izz="0.00026268"/>
    </inertial>
    <visual>
      <origin xyz="-0.09250000000000001 0.12999999999999978 -0.00475000000000014" rpy="3.141592653589793 0 3.141592653589793"/>
      <geometry>
        <mesh filename="package://iRonCub-Mk3/iRonCub/meshes/stl/sim_sea_3_l_bracket_prt.stl" scale="0.001 0.001 0.001"/>
      </geometry>
      <material name="dblue">
        <color rgba="0 0 0.8 1"/>
      </material>
    </visual>
    <collision>
      <origin xyz="-0.09250000000000001 0.12999999999999978 -0.00475000000000014" rpy="3.141592653589793 0 3.141592653589793"/>
      <geometry>
        <mesh filename="package://iRonCub-Mk3/iRonCub/meshes/stl/sim_sea_3_l_bracket_prt.stl" scale="0.001 0.001 0.001"/>
      </geometry>
    </collision>
  </link>
  <joint name="l_bracket" type="fixed">
    <origin xyz="0.0025000000000000022 -0.108446 -0.045" rpy="1.5707963267948966 0 0"/>
    <parent link="chest_jetpack"/>
    <child link="chest_l_bracket"/>
    <dynamics damping="0.1"/>
  </joint>
  <link name="chest_l_turbine_support">
    <inertial>
      <origin xyz="0.03397903484844561 1.000000000001e-06 0.025325701012153992" rpy="3.141592653589793 0.26179931982715643 3.141592653589793"/>
      <mass value="0.513465"/>
      <inertia ixx="0.000736992" ixy="-1.84723e-08" ixz="0.000203433" iyy="0.00131997" iyz="0.0" izz="0.00185725"/>
    </inertial>
    <visual>
      <origin xyz="-0.15624417980240077 0.12999999999999978 -0.03399947249466047" rpy="3.141592653589793 0.26179931982715643 3.141592653589793"/>
      <geometry>
        <mesh filename="package://iRonCub-Mk3/iRonCub/meshes/stl/sim_sea_3_l_turbine_support_prt.stl" scale="0.001 0.001 0.001"/>
      </geometry>
      <material name="dgreen">
        <color rgba="0.1 0.8 0.1 1"/>
      </material>
    </visual>
    <collision>
      <origin xyz="-0.15624417980240077 0.12999999999999978 -0.03399947249466047" rpy="3.141592653589793 0.26179931982715643 3.141592653589793"/>
      <geometry>
        <mesh filename="package://iRonCub-Mk3/iRonCub/meshes/stl/sim_sea_3_l_turbine_support_prt.stl" scale="0.001 0.001 0.001"/>
      </geometry>
    </collision>
  </link>
  <joint name="l_turbine_support" type="fixed">
    <origin xyz="0.06721999999999996 0 -0.012347989999999996" rpy="0 0.26179931982715643 0"/>
    <parent link="chest_l_bracket"/>
    <child link="chest_l_turbine_support"/>
    <dynamics damping="0.1"/>
  </joint>
  <link name="chest_l_jet_turbine">
    <inertial>
      <origin xyz="4.9000000000021445e-05 -5.932499839716998e-05 -0.1587105537506091" rpy="3.141592653589793 0.26179931982715643 1.5707963267948968"/>
      <mass value="2.11661"/>
      <inertia ixx="0.00787268" ixy="6.50611e-07" ixz="-0.00136457" iyy="0.00823746" iyz="-1.33065e-05" izz="0.0031418"/>
    </inertial>
    <visual>
      <origin xyz="0.12971099999999977 0.2507434833286949 -0.2233506576354603" rpy="3.141592653589793 0.26179931982715643 1.5707963267948968"/>
      <geometry>
        <mesh filename="package://iRonCub-Mk3/iRonCub/meshes/stl/sim_sea_3_l_jet_turbine_prt.stl" scale="0.001 0.001 0.001"/>
      </geometry>
      <material name="gray">
        <color rgba="0.5 0.5 0.5 1"/>
      </material>
    </visual>
    <collision>
      <origin xyz="0.12971099999999977 0.2507434833286949 -0.2233506576354603" rpy="3.141592653589793 0.26179931982715643 1.5707963267948968"/>
      <geometry>
        <mesh filename="package://iRonCub-Mk3/iRonCub/meshes/stl/sim_sea_3_l_jet_turbine_prt.stl" scale="0.001 0.001 0.001"/>
      </geometry>
    </collision>
  </link>
  <joint name="l_jet_turbine" type="fixed">
    <origin xyz="0.09449930352629421 0.0002889999999999837 0.1893511851407998" rpy="0 0 1.5707963267948966"/>
    <parent link="chest_l_turbine_support"/>
    <child link="chest_l_jet_turbine"/>
    <dynamics damping="0.1"/>
  </joint>
  <link name="neck_1">
    <inertial>
      <origin xyz="-0.0021259300000000003 0.00033753499999999997 0.031454700000000016" rpy="-1.5707963267948968 0 -1.5707963267948968"/>
      <mass value="0.36804"/>
      <inertia ixx="0.000179701897883096" ixy="-8.833876708276077e-06" ixz="-1.4878426738622656e-05" iyy="0.0002675144279997793" iyz="5.57627455590208e-06" izz="0.00028375118819347193"/>
    </inertial>
    <visual>
      <origin xyz="0.00865 0 0.049000000000000016" rpy="-1.5707963267948968 0 -1.5707963267948968"/>
      <geometry>
        <mesh filename="package://iRonCub-Mk3/iRonCub/meshes/stl/sim_head_neck_1_prt.stl" scale="0.001 0.001 0.001"/>
      </geometry>
      <material name="green">
        <color rgba="0 1 0 1"/>
      </material>
    </visual>
    <collision>
      <origin xyz="0.00865 0 0.049000000000000016" rpy="-1.5707963267948968 0 -1.5707963267948968"/>
      <geometry>
        <mesh filename="package://iRonCub-Mk3/iRonCub/meshes/stl/sim_head_neck_1_prt.stl" scale="0.001 0.001 0.001"/>
      </geometry>
    </collision>
  </link>
  <joint name="neck_fixed_joint" type="fixed">
    <origin xyz="-0.00378849 0 0.1652995" rpy="0 0 0"/>
    <parent link="chest"/>
    <child link="neck_1"/>
    <dynamics damping="0.1"/>
  </joint>
  <link name="neck_2">
    <inertial>
      <origin xyz="-0.0063756 3.63093e-05 0.006597499999999992" rpy="-1.5707963267948968 0 -1.5707963267948968"/>
      <mass value="0.1214"/>
      <inertia ixx="3.922803192379071e-05" ixy="5.7011653935913464e-08" ixz="9.665431536690854e-08" iyy="3.7385115930831784e-05" iyz="-9.08258119140734e-06" izz="4.585137085918645e-05"/>
    </inertial>
    <visual>
      <origin xyz="0 0 0" rpy="-1.5707963267948968 0 -1.5707963267948968"/>
      <geometry>
        <mesh filename="package://iRonCub-Mk3/iRonCub/meshes/stl/sim_head_neck_2_prt.stl" scale="0.001 0.001 0.001"/>
      </geometry>
      <material name="black">
        <color rgba="0 0 0 1"/>
      </material>
    </visual>
    <collision>
      <origin xyz="0 0 0" rpy="-1.5707963267948968 0 -1.5707963267948968"/>
      <geometry>
        <mesh filename="package://iRonCub-Mk3/iRonCub/meshes/stl/sim_head_neck_2_prt.stl" scale="0.001 0.001 0.001"/>
      </geometry>
    </collision>
  </link>
  <joint name="neck_pitch" type="revolute">
    <origin xyz="0.00865 0 0.049000000000000016" rpy="0 0 0"/>
    <axis xyz="0.0 -1.0 0.0"/>
    <parent link="neck_1"/>
    <child link="neck_2"/>
    <limit effort="50000" lower="-0.5235987755982988" upper="0.3839724354387525" velocity="120.0"/>
    <dynamics damping="2.0" friction="0.0"/>
  </joint>
  <link name="neck_3">
    <inertial>
      <origin xyz="0.0012653999999999999 -8.218820000000001e-05 0.036108999999999974" rpy="-1.5707963267948968 0 -1.5707963267948968"/>
      <mass value="0.18386"/>
      <inertia ixx="0.00011968746119821388" ixy="-5.240077207007726e-07" ixz="-3.6002165484161086e-07" iyy="3.99187384725429e-05" iyz="-9.97584076409671e-06" izz="0.00010705060973108298"/>
    </inertial>
    <visual>
      <origin xyz="0 0 -0.009500499999999995" rpy="-1.5707963267948968 0 -1.5707963267948968"/>
      <geometry>
        <mesh filename="package://iRonCub-Mk3/iRonCub/meshes/stl/sim_head_neck_3_prt.stl" scale="0.001 0.001 0.001"/>
      </geometry>
      <material name="red">
        <color rgba="1 0 0 1"/>
      </material>
    </visual>
    <collision>
      <origin xyz="0 0 -0.009500499999999995" rpy="-1.5707963267948968 0 -1.5707963267948968"/>
      <geometry>
        <mesh filename="package://iRonCub-Mk3/iRonCub/meshes/stl/sim_head_neck_3_prt.stl" scale="0.001 0.001 0.001"/>
      </geometry>
    </collision>
  </link>
  <joint name="neck_roll" type="revolute">
    <origin xyz="0 0 0.009500499999999995" rpy="0 0 0"/>
    <axis xyz="1.0 0.0 0.0"/>
    <parent link="neck_2"/>
    <child link="neck_3"/>
    <limit effort="50000" lower="-0.3490658503988659" upper="0.3490658503988659" velocity="120.0"/>
    <dynamics damping="2.0" friction="0.0"/>
  </joint>
  <link name="head">
    <inertial>
      <origin xyz="-0.02065171 0.000526031 0.027896999999999977" rpy="-1.5707963267948968 0 -1.5707963267948968"/>
      <mass value="1.8728"/>
      <inertia ixx="0.007642647745719656" ixy="4.8998499721183834e-05" ixz="4.926393457113943e-05" iyy="0.007404636328713935" iyz="-0.00019328685350792046" izz="0.005594148247588756"/>
    </inertial>
    <visual>
      <origin xyz="0 0 -0.07865050000000001" rpy="-1.5707963267948968 0 -1.5707963267948968"/>
      <geometry>
        <mesh filename="package://iRonCub-Mk3/iRonCub/meshes/stl/sim_head_head_prt.stl" scale="0.001 0.001 0.001"/>
      </geometry>
      <material name="blue">
        <color rgba="0 0 1 1"/>
      </material>
    </visual>
    <collision>
      <origin xyz="0 0 -0.07865050000000001" rpy="-1.5707963267948968 0 -1.5707963267948968"/>
      <geometry>
        <mesh filename="package://iRonCub-Mk3/iRonCub/meshes/stl/sim_head_head_prt.stl" scale="0.001 0.001 0.001"/>
      </geometry>
    </collision>
  </link>
  <joint name="neck_yaw" type="revolute">
    <origin xyz="0 0 0.06915000000000002" rpy="0 0 0"/>
    <axis xyz="0.0 0.0 1.0"/>
    <parent link="neck_3"/>
    <child link="head"/>
    <limit effort="50000" lower="-0.7853981633974483" upper="0.7853981633974483" velocity="120.0"/>
    <dynamics damping="2.0" friction="0.0"/>
  </joint>
  <link name="l_shoulder_1">
    <inertial>
      <origin xyz="0.00016753510172435454 0.08722598325113093 0.0004507876462612366" rpy="-0.06688748006582523 -0.2444524795872544 -1.3007776603865422"/>
      <mass value="0.78644"/>
      <inertia ixx="0.00039843690200765293" ixy="0.00017359471090191915" ixz="0.00016289691907417792" iyy="0.0010102030321362176" iyz="-4.081880122662575e-05" izz="0.000992284738493621"/>
    </inertial>
    <visual>
      <origin xyz="0.030411223823216114 -0.029140477503746667 0.01909576653967796" rpy="-0.06688748006582523 -0.2444524795872544 -1.3007776603865422"/>
      <geometry>
        <mesh filename="package://iRonCub-Mk3/iRonCub/meshes/stl/sim_icub3_l_shoulder_1_prt.stl" scale="0.001 0.001 0.001"/>
      </geometry>
      <material name="yellow">
        <color rgba="1 1 0 1"/>
      </material>
    </visual>
    <collision>
      <origin xyz="0.030411223823216114 -0.029140477503746667 0.01909576653967796" rpy="-0.06688748006582523 -0.2444524795872544 -1.3007776603865422"/>
      <geometry>
        <mesh filename="package://iRonCub-Mk3/iRonCub/meshes/stl/sim_icub3_l_shoulder_1_prt.stl" scale="0.001 0.001 0.001"/>
      </geometry>
    </collision>
  </link>
  <joint name="l_shoulder_pitch" type="revolute">
    <origin xyz="-0.020835100000000002 0.0397423 0.1052029" rpy="0.25326162380993705 -1.1977334179319483e-07 -0.26179930184968747"/>
    <axis xyz="3.323079797673039e-07 0.9999999783534342 1.4452224303407313e-07"/>
    <parent link="chest"/>
    <child link="l_shoulder_1"/>
    <limit effort="50000" lower="-3.0543261909900767" upper="0.3490658503988659" velocity="120.0"/>
    <dynamics damping="2.0" friction="0.0"/>
  </joint>
  <link name="l_shoulder_2">
    <inertial>
      <origin xyz="0.0076686687055762676 0.00018849980855933923 -0.020403454228093053" rpy="-0.12008543635729367 -0.2297887323171894 -1.2882780461440753"/>
      <mass value="0.42492"/>
      <inertia ixx="0.00038388233784675605" ixy="-4.916851307375464e-05" ixz="-6.324300296292925e-05" iyy="0.00031068388949320714" iyz="-7.587195452290467e-05" izz="0.00026013597951892223"/>
    </inertial>
    <visual>
      <origin xyz="0.026393096265395596 -0.14064030580326706 0.017434480978924874" rpy="-0.12008543635729367 -0.2297887323171894 -1.2882780461440753"/>
      <geometry>
        <mesh filename="package://iRonCub-Mk3/iRonCub/meshes/stl/sim_icub3_l_shoulder_2_prt.stl" scale="0.001 0.001 0.001"/>
      </geometry>
      <material name="pink">
        <color rgba="1 0 1 1"/>
      </material>
    </visual>
    <collision>
      <origin xyz="0.026393096265395596 -0.14064030580326706 0.017434480978924874" rpy="-0.12008543635729367 -0.2297887323171894 -1.2882780461440753"/>
      <geometry>
        <mesh filename="package://iRonCub-Mk3/iRonCub/meshes/stl/sim_icub3_l_shoulder_2_prt.stl" scale="0.001 0.001 0.001"/>
      </geometry>
    </collision>
  </link>
  <joint name="l_shoulder_roll" type="revolute">
    <origin xyz="0.004992849331690821 0.11149983845609901 0.00026865022773668937" rpy="-0.17453296140985003 -0.05374759931933849 0"/>
    <axis xyz="0.9999998262417685 2.034825262722459e-07 -4.0230228454118944e-08"/>
    <parent link="l_shoulder_1"/>
    <child link="l_shoulder_2"/>
    <limit effort="50000" lower="0.20943951023931956" upper="2.8448866807507573" velocity="120.0"/>
    <dynamics damping="2.0" friction="0.0"/>
  </joint>
  <link name="l_shoulder_3">
    <inertial>
      <origin xyz="-9.561931744894031e-05 3.089115052354319e-05 -0.007966608685190314" rpy="-0.12008543635729367 -0.2297887323171894 -1.2882780461440753"/>
      <mass value="0.2625"/>
      <inertia ixx="7.626797646850803e-05" ixy="-1.6986505676585652e-06" ixz="1.0777869051741286e-05" iyy="7.457103744115285e-05" iyz="-5.511652932595611e-06" izz="0.00012000121562184585"/>
    </inertial>
    <visual>
      <origin xyz="0.030743229422373917 -0.14064066906059042 0.0717345197029866" rpy="-0.12008543635729367 -0.2297887323171894 -1.2882780461440753"/>
      <geometry>
        <mesh filename="package://iRonCub-Mk3/iRonCub/meshes/stl/sim_icub3_l_shoulder_3_prt.stl" scale="0.001 0.001 0.001"/>
      </geometry>
      <material name="cyan">
        <color rgba="0 1 1 1"/>
      </material>
    </visual>
    <collision>
      <origin xyz="0.030743229422373917 -0.14064066906059042 0.0717345197029866" rpy="-0.12008543635729367 -0.2297887323171894 -1.2882780461440753"/>
      <geometry>
        <mesh filename="package://iRonCub-Mk3/iRonCub/meshes/stl/sim_icub3_l_shoulder_3_prt.stl" scale="0.001 0.001 0.001"/>
      </geometry>
    </collision>
  </link>
  <joint name="l_arm_ft_sensor" type="fixed">
    <origin xyz="-0.004350133156978318 3.632573233602887e-07 -0.05430003872406172" rpy="0 0 0"/>
    <parent link="l_shoulder_2"/>
    <child link="l_shoulder_3"/>
    <dynamics damping="0.1"/>
  </joint>
  <link name="l_upper_arm">
    <inertial>
      <origin xyz="0.0010476375729993916 0.002559622582259863 -0.05065314985074498" rpy="-0.06212860830092193 0.0714268908124578 0.27099931149673545"/>
      <mass value="1.67729"/>
      <inertia ixx="0.002960829234557446" ixy="-1.0441222117313817e-05" ixz="0.00022298859388284023" iyy="0.0030756376591531418" iyz="0.00020156448677983343" izz="0.001327263106289413"/>
    </inertial>
    <visual>
      <origin xyz="0.030743147864881363 -0.14064024560810592 0.09423446107611103" rpy="-0.12008543635729367 -0.2297887323171894 -1.2882780461440753"/>
      <geometry>
        <mesh filename="package://iRonCub-Mk3/iRonCub/meshes/stl/sim_icub3_l_upperarm_prt.stl" scale="0.001 0.001 0.001"/>
      </geometry>
      <material name="green">
        <color rgba="0 1 0 1"/>
      </material>
    </visual>
    <collision>
      <origin xyz="0.030743147864881363 -0.14064024560810592 0.09423446107611103" rpy="-0.12008543635729367 -0.2297887323171894 -1.2882780461440753"/>
      <geometry>
        <mesh filename="package://iRonCub-Mk3/iRonCub/meshes/stl/sim_icub3_l_upperarm_prt.stl" scale="0.001 0.001 0.001"/>
      </geometry>
    </collision>
  </link>
  <joint name="l_shoulder_yaw" type="revolute">
    <origin xyz="0 -4.2345248449371375e-07 -0.02249994137312443" rpy="0 0 0"/>
    <axis xyz="2.2276474047344674e-08 -4.39378624733644e-08 -1.0000002566182309"/>
    <parent link="l_shoulder_3"/>
    <child link="l_upper_arm"/>
    <limit effort="50000" lower="-0.8726646259971648" upper="1.3962634015954636" velocity="120.0"/>
    <dynamics damping="2.0" friction="0.0"/>
  </joint>
  <link name="l_elbow_1">
    <inertial>
      <origin xyz="-0.00423027106126244 0.0004313452938078943 -0.0009432406828351891" rpy="-0.12008543635729367 -0.2297887323171894 -1.2882780461440753"/>
      <mass value="0.107667"/>
      <inertia ixx="1.39504e-05" ixy="1.76574e-06" ixz="3.57718e-06" iyy="2.16784e-05" iyz="-8.71415e-07" izz="2.71069e-05"/>
    </inertial>
    <visual>
      <origin xyz="0.02074321762996196 -0.13914059818467703 0.21793479861369477" rpy="-0.12008543635729367 -0.2297887323171894 -1.2882780461440753"/>
      <geometry>
        <mesh filename="package://iRonCub-Mk3/iRonCub/meshes/stl/sim_icub3_l_elbow_prt.stl" scale="0.001 0.001 0.001"/>
      </geometry>
      <material name="white">
        <color rgba="1 1 1 1"/>
      </material>
    </visual>
    <collision>
      <origin xyz="0.02074321762996196 -0.13914059818467703 0.21793479861369477" rpy="-0.12008543635729367 -0.2297887323171894 -1.2882780461440753"/>
      <geometry>
        <mesh filename="package://iRonCub-Mk3/iRonCub/meshes/stl/sim_icub3_l_elbow_prt.stl" scale="0.001 0.001 0.001"/>
      </geometry>
    </collision>
  </link>
  <joint name="l_elbow" type="revolute">
    <origin xyz="0.0099999302349194 -0.001499647423428896 -0.12370033753758373" rpy="0 0 0"/>
    <axis xyz="-8.81182417675902e-08 -1.0000002733514628 4.404736120289243e-08"/>
    <parent link="l_upper_arm"/>
    <child link="l_elbow_1"/>
    <limit effort="50000" lower="-0.05235987755982989" upper="1.3089969389957472" velocity="120.0"/>
    <dynamics damping="2.0" friction="0.0"/>
  </joint>
  <link name="L_FOREARM"/>
  <joint name="L_FOREARM_fixed_joint" type="fixed">
    <origin xyz="-0.014999997481142335 0.001999966984672058 0.006000190633300373" rpy="1.5707963634150914 -1.5707959411047887 0"/>
    <parent link="l_elbow_1"/>
    <child link="L_FOREARM"/>
    <dynamics damping="0.1"/>
  </joint>
  <link name="l_forearm">
    <inertial>
      <origin xyz="-0.13144957359056722 6.579725385970348e-05 -0.023664172318918125" rpy="-2.3561949108383837 -1.2085781829840494 -0.872663970096126"/>
      <mass value="0.681091"/>
      <inertia ixx="0.00193464" ixy="0.000250775" ixz="-0.000415171" iyy="0.00265495" iyz="0.000153302" izz="0.00215953"/>
    </inertial>
    <visual>
      <origin xyz="0.21193456418652468 -0.0357431759934032 0.14114064083593308" rpy="-2.3561949108383837 -1.2085781829840494 -0.872663970096126"/>
      <geometry>
        <mesh filename="package://iRonCub-Mk3/iRonCub/meshes/stl/sim_icub3_l_elbow_prosup_prt.stl" scale="0.001 0.001 0.001"/>
      </geometry>
      <material name="dblue">
        <color rgba="0 0 0.8 1"/>
      </material>
    </visual>
    <collision>
      <origin xyz="0.21193456418652468 -0.0357431759934032 0.14114064083593308" rpy="-2.3561949108383837 -1.2085781829840494 -0.872663970096126"/>
      <geometry>
        <mesh filename="package://iRonCub-Mk3/iRonCub/meshes/stl/sim_icub3_l_elbow_prosup_prt.stl" scale="0.001 0.001 0.001"/>
      </geometry>
    </collision>
  </link>
  <joint name="l_prosup_joint" type="fixed">
    <origin xyz="-0.014999997481142335 0.001999966984672058 0.006000190633300373" rpy="1.5707963634150914 -1.5707959411047887 0"/>
    <parent link="l_elbow_1"/>
    <child link="l_forearm"/>
    <dynamics damping="0.1"/>
  </joint>
  <link name="l_arm_jet_turbine">
    <inertial>
      <origin xyz="2.4681861376940617e-07 0 -0.15814158399339034" rpy="3.0215072327565813 0.22978870437666338 -0.2825182075180713"/>
      <mass value="2.155"/>
      <inertia ixx="-0.00934762" ixy="-0.000261966" ixz="0.00217093" iyy="-0.00972494" iyz="-0.00111183" izz="-0.000645087"/>
    </inertial>
    <visual>
      <origin xyz="0.23085097168388896 -0.03574304568941889 -0.5299356907276523" rpy="3.0215072327565813 0.22978870437666338 -0.2825182075180713"/>
      <geometry>
        <mesh filename="package://iRonCub-Mk3/iRonCub/meshes/stl/sim_sea_l_arm_p250_prt.stl" scale="0.001 0.001 0.001"/>
      </geometry>
      <material name="dgreen">
        <color rgba="0.1 0.8 0.1 1"/>
      </material>
    </visual>
    <collision>
      <origin xyz="0.23085097168388896 -0.03574304568941889 -0.5299356907276523" rpy="3.0215072327565813 0.22978870437666338 -0.2825182075180713"/>
      <geometry>
        <mesh filename="package://iRonCub-Mk3/iRonCub/meshes/stl/sim_sea_l_arm_p250_prt.stl" scale="0.001 0.001 0.001"/>
      </geometry>
    </collision>
  </link>
  <joint name="l_elbow_turbine" type="fixed">
    <origin xyz="-0.3180010581988712 -2.0401473058151431e-07 -0.08971049914539889" rpy="1.534590482496819e-07 -1.5707960052941095 0"/>
    <parent link="l_forearm"/>
    <child link="l_arm_jet_turbine"/>
    <dynamics damping="0.1"/>
  </joint>
  <link name="r_shoulder_1">
    <inertial>
      <origin xyz="0.00016744811157206468 -0.08721740246539643 0.0004507343002208668" rpy="-0.06688725064450136 0.24445256247619251 -1.840815419889917"/>
      <mass value="0.78697"/>
      <inertia ixx="0.0003985239519684459" ixy="-0.0001736132173031554" ixz="-0.0001629290145974639" iyy="0.0010103722401209082" iyz="-4.081377037378354e-05" izz="0.0009923960134670207"/>
    </inertial>
    <visual>
      <origin xyz="0.030411233356184383 0.029140462447480246 0.01909577433393813" rpy="-0.06688725064450136 0.24445256247619251 -1.840815419889917"/>
      <geometry>
        <mesh filename="package://iRonCub-Mk3/iRonCub/meshes/stl/sim_icub3_r_shoulder_1_prt.stl" scale="0.001 0.001 0.001"/>
      </geometry>
      <material name="gray">
        <color rgba="0.5 0.5 0.5 1"/>
      </material>
    </visual>
    <collision>
      <origin xyz="0.030411233356184383 0.029140462447480246 0.01909577433393813" rpy="-0.06688725064450136 0.24445256247619251 -1.840815419889917"/>
      <geometry>
        <mesh filename="package://iRonCub-Mk3/iRonCub/meshes/stl/sim_icub3_r_shoulder_1_prt.stl" scale="0.001 0.001 0.001"/>
      </geometry>
    </collision>
  </link>
  <joint name="r_shoulder_pitch" type="revolute">
    <origin xyz="-0.020835100000000002 -0.0397423 0.1052029" rpy="-0.25326164431680925 2.3014774394592079e-07 0.26179970938509745"/>
    <axis xyz="1.499044390054707e-07 0.9999999783534812 -1.2401537036188515e-07"/>
    <parent link="chest"/>
    <child link="r_shoulder_1"/>
    <limit effort="50000" lower="-3.0543261909900767" upper="0.3490658503988659" velocity="120.0"/>
    <dynamics damping="2.0" friction="0.0"/>
  </joint>
  <link name="r_shoulder_2">
    <inertial>
      <origin xyz="0.005108924921141532 -0.00021262473188488062 -0.020403359362654718" rpy="-0.12008540036084188 0.2297886675301102 -1.8533144378692001"/>
      <mass value="0.42492"/>
      <inertia ixx="0.0003829366314543841" ixy="4.8603409990214605e-05" ixz="6.290223922809094e-05" iyy="0.00031037929080854744" iyz="-7.540635367635347e-05" izz="0.0002587851085269554"/>
    </inertial>
    <visual>
      <origin xyz="0.023893259221697872 0.14064089823597106 0.01743452847998419" rpy="-0.12008540036084188 0.2297886675301102 -1.8533144378692001"/>
      <geometry>
        <mesh filename="package://iRonCub-Mk3/iRonCub/meshes/stl/sim_icub3_r_shoulder_2_prt.stl" scale="0.001 0.001 0.001"/>
      </geometry>
      <material name="green">
        <color rgba="0 1 0 1"/>
      </material>
    </visual>
    <collision>
      <origin xyz="0.023893259221697872 0.14064089823597106 0.01743452847998419" rpy="-0.12008540036084188 0.2297886675301102 -1.8533144378692001"/>
      <geometry>
        <mesh filename="package://iRonCub-Mk3/iRonCub/meshes/stl/sim_icub3_r_shoulder_2_prt.stl" scale="0.001 0.001 0.001"/>
      </geometry>
    </collision>
  </link>
  <joint name="r_shoulder_roll" type="revolute">
    <origin xyz="0.007489008185044645 -0.11150041046657977 0.00040278589669752105" rpy="0.17453306234069352 -0.05374779257913059 -6.132332688882274e-07"/>
    <axis xyz="-0.9999998262417886 4.2105014356162707e-08 2.4630481189336084e-08"/>
    <parent link="r_shoulder_1"/>
    <child link="r_shoulder_2"/>
    <limit effort="50000" lower="0.20943951023931956" upper="2.8448866807507573" velocity="120.0"/>
    <dynamics damping="2.0" friction="0.0"/>
  </joint>
  <link name="r_shoulder_3">
    <inertial>
      <origin xyz="-8.296442829115735e-05 -3.0309267538636275e-05 -0.007966520489017755" rpy="-0.12008540036084188 0.2297886675301102 -1.8533144378692001"/>
      <mass value="0.2625"/>
      <inertia ixx="7.628615554065704e-05" ixy="1.6702215931276847e-06" ixz="-1.0784251066431893e-05" iyy="7.45516013055042e-05" iyz="-5.495630207834499e-06" izz="0.00012000314956569149"/>
    </inertial>
    <visual>
      <origin xyz="0.03074320560708775 0.1406406791860105 0.07173451005787518" rpy="-0.12008540036084188 0.2297886675301102 -1.8533144378692001"/>
      <geometry>
        <mesh filename="package://iRonCub-Mk3/iRonCub/meshes/stl/sim_icub3_r_shoulder_3_prt.stl" scale="0.001 0.001 0.001"/>
      </geometry>
      <material name="black">
        <color rgba="0 0 0 1"/>
      </material>
    </visual>
    <collision>
      <origin xyz="0.03074320560708775 0.1406406791860105 0.07173451005787518" rpy="-0.12008540036084188 0.2297886675301102 -1.8533144378692001"/>
      <geometry>
        <mesh filename="package://iRonCub-Mk3/iRonCub/meshes/stl/sim_icub3_r_shoulder_3_prt.stl" scale="0.001 0.001 0.001"/>
      </geometry>
    </collision>
  </link>
  <joint name="r_arm_ft_sensor" type="fixed">
    <origin xyz="-0.006849946385389875 2.1904996055921444e-07 -0.054299981577890996" rpy="0 0 0"/>
    <parent link="r_shoulder_2"/>
    <child link="r_shoulder_3"/>
    <dynamics damping="0.1"/>
  </joint>
  <link name="r_upper_arm">
    <inertial>
      <origin xyz="0.00104763877624129 -0.002559626059706027 -0.05065314965013519" rpy="-0.12008540036084188 0.2297886675301102 -1.8533144378692001"/>
      <mass value="1.8703"/>
      <inertia ixx="0.0033005254762146084" ixy="-7.856912537486065e-05" ixz="0.0005314736736640653" iyy="0.003275179877659797" iyz="0.00032042055112711576" izz="0.0016353876705876744"/>
    </inertial>
    <visual>
      <origin xyz="0.030743123698670136 0.14064025735327973 0.09423445143102875" rpy="-0.12008540036084188 0.2297886675301102 -1.8533144378692001"/>
      <geometry>
        <mesh filename="package://iRonCub-Mk3/iRonCub/meshes/stl/sim_icub3_r_upperarm_prt.stl" scale="0.001 0.001 0.001"/>
      </geometry>
      <material name="red">
        <color rgba="1 0 0 1"/>
      </material>
    </visual>
    <collision>
      <origin xyz="0.030743123698670136 0.14064025735327973 0.09423445143102875" rpy="-0.12008540036084188 0.2297886675301102 -1.8533144378692001"/>
      <geometry>
        <mesh filename="package://iRonCub-Mk3/iRonCub/meshes/stl/sim_icub3_r_upperarm_prt.stl" scale="0.001 0.001 0.001"/>
      </geometry>
    </collision>
  </link>
  <joint name="r_shoulder_yaw" type="revolute">
    <origin xyz="0 4.2183273077367467e-07 -0.02249994137315358" rpy="0 0 0"/>
    <axis xyz="-3.787621790513063e-08 2.805197706068352e-08 1.0000002566182309"/>
    <parent link="r_shoulder_3"/>
    <child link="r_upper_arm"/>
    <limit effort="50000" lower="-0.8726646259971648" upper="1.3962634015954636" velocity="120.0"/>
    <dynamics damping="2.0" friction="0.0"/>
  </joint>
  <link name="r_elbow_1">
    <inertial>
      <origin xyz="-0.0042210586272278874 -0.00045736337500790203 -0.0010160983262984813" rpy="-0.12008540036084188 0.2297886675301102 -1.8533144378692001"/>
      <mass value="0.107261"/>
      <inertia ixx="1.40525e-05" ixy="-1.76005e-06" ixz="-3.59476e-06" iyy="2.17508e-05" iyz="-8.29645e-07" izz="2.70785e-05"/>
    </inertial>
    <visual>
      <origin xyz="0.02074319177606632 0.13914061722125232 0.21793478892057525" rpy="-0.12008540036084188 0.2297886675301102 -1.8533144378692001"/>
      <geometry>
        <mesh filename="package://iRonCub-Mk3/iRonCub/meshes/stl/sim_icub3_r_elbow_prt.stl" scale="0.001 0.001 0.001"/>
      </geometry>
      <material name="blue">
        <color rgba="0 0 1 1"/>
      </material>
    </visual>
    <collision>
      <origin xyz="0.02074319177606632 0.13914061722125232 0.21793478892057525" rpy="-0.12008540036084188 0.2297886675301102 -1.8533144378692001"/>
      <geometry>
        <mesh filename="package://iRonCub-Mk3/iRonCub/meshes/stl/sim_icub3_r_elbow_prt.stl" scale="0.001 0.001 0.001"/>
      </geometry>
    </collision>
  </link>
  <joint name="r_elbow" type="revolute">
    <origin xyz="0.009999931922603816 0.0014996401320274133 -0.1237003374895465" rpy="0 0 0"/>
    <axis xyz="2.4949582809984105e-07 -1.0000002733514362 2.7942487004772865e-08"/>
    <parent link="r_upper_arm"/>
    <child link="r_elbow_1"/>
    <limit effort="50000" lower="-0.05235987755982989" upper="1.3089969389957472" velocity="120.0"/>
    <dynamics damping="2.0" friction="0.0"/>
  </joint>
  <link name="R_FOREARM"/>
  <joint name="R_FOREARM_fixed_joint" type="fixed">
    <origin xyz="-0.01499999725199383 -0.0019999689733820603 0.0060001905432816305" rpy="1.570796451552234 -1.5707960126779352 0"/>
    <parent link="r_elbow_1"/>
    <child link="R_FOREARM"/>
    <dynamics damping="0.1"/>
  </joint>
  <link name="r_forearm">
    <inertial>
      <origin xyz="-0.13145056911634542 6.584926183615669e-05 0.023664093429151656" rpy="0.7853977427514093 -1.2085781829840494 2.2689286834936673"/>
      <mass value="0.681091"/>
      <inertia ixx="0.00193459" ixy="-0.000250774" ixz="0.000415154" iyy="0.0026549" iyz="0.000153298" izz="0.00215952"/>
    </inertial>
    <visual>
      <origin xyz="0.21193456418652473 -0.0357431759934032 -0.14114064083593317" rpy="0.7853977427514093 -1.2085781829840494 2.2689286834936673"/>
      <geometry>
        <mesh filename="package://iRonCub-Mk3/iRonCub/meshes/stl/sim_icub3_r_elbow_prosup_prt.stl" scale="0.001 0.001 0.001"/>
      </geometry>
      <material name="yellow">
        <color rgba="1 1 0 1"/>
      </material>
    </visual>
    <collision>
      <origin xyz="0.21193456418652473 -0.0357431759934032 -0.14114064083593317" rpy="0.7853977427514093 -1.2085781829840494 2.2689286834936673"/>
      <geometry>
        <mesh filename="package://iRonCub-Mk3/iRonCub/meshes/stl/sim_icub3_r_elbow_prosup_prt.stl" scale="0.001 0.001 0.001"/>
      </geometry>
    </collision>
  </link>
  <joint name="r_prosup_joint" type="fixed">
    <origin xyz="-0.01499999725199383 -0.0019999689733820603 0.0060001905432816305" rpy="1.570796451552234 -1.5707960126779352 0"/>
    <parent link="r_elbow_1"/>
    <child link="r_forearm"/>
    <dynamics damping="0.1"/>
  </joint>
  <link name="r_arm_jet_turbine">
    <inertial>
      <origin xyz="7.185032821210857e-07 3.9258985742862684e-07 -0.15814251758881814" rpy="3.0215072134275287 -0.22978871932764794 0.5443178016082791"/>
      <mass value="2.155"/>
      <inertia ixx="-0.00934757" ixy="0.000261972" ixz="-0.00217099" iyy="-0.00972494" iyz="-0.00111186" izz="-0.000645129"/>
    </inertial>
    <visual>
      <origin xyz="-0.21430267906834452 -0.09434867402057348 -0.5299364637555667" rpy="3.0215072134275287 -0.22978871932764794 0.5443178016082791"/>
      <geometry>
        <mesh filename="package://iRonCub-Mk3/iRonCub/meshes/stl/sim_sea_r_arm_p250_prt.stl" scale="0.001 0.001 0.001"/>
      </geometry>
      <material name="pink">
        <color rgba="1 0 1 1"/>
      </material>
    </visual>
    <collision>
      <origin xyz="-0.21430267906834452 -0.09434867402057348 -0.5299364637555667" rpy="3.0215072134275287 -0.22978871932764794 0.5443178016082791"/>
      <geometry>
        <mesh filename="package://iRonCub-Mk3/iRonCub/meshes/stl/sim_sea_r_arm_p250_prt.stl" scale="0.001 0.001 0.001"/>
      </geometry>
    </collision>
  </link>
  <joint name="r_elbow_turbine" type="fixed">
    <origin xyz="-0.31800182699242435 -7.509762302959633e-05 0.09027927112641798" rpy="1.570795015415436 -1.3089967700836362 -1.5707948927337267"/>
    <parent link="r_forearm"/>
    <child link="r_arm_jet_turbine"/>
    <dynamics damping="0.1"/>
  </joint>
  <link name="base_link"/>
  <joint name="base_link_fixed_joint" type="fixed">
<origin xyz="0 0 0" rpy="0 -0 0"/>
<axis xyz="0 0 0"/>
<parent link="root_link"/>
<child link="base_link"/>
</joint>
  <gazebo reference="r_arm_ft_sensor">
<preserveFixedJoint>true</preserveFixedJoint>
<!-- For compatibility with SDFormat < 4.4 -->
<disableFixedJointLumping>true</disableFixedJointLumping>
</gazebo>
  <gazebo reference="r_jet_ft_sensor">
<preserveFixedJoint>true</preserveFixedJoint>
<!-- For compatibility with SDFormat < 4.4 -->
<disableFixedJointLumping>true</disableFixedJointLumping>
</gazebo>
  <gazebo reference="l_jet_ft_sensor">
<preserveFixedJoint>true</preserveFixedJoint>
<!-- For compatibility with SDFormat < 4.4 -->
<disableFixedJointLumping>true</disableFixedJointLumping>
</gazebo>
  <gazebo reference="l_arm_ft_sensor">
<preserveFixedJoint>true</preserveFixedJoint>
<!-- For compatibility with SDFormat < 4.4 -->
<disableFixedJointLumping>true</disableFixedJointLumping>
</gazebo>
  <gazebo reference="l_foot_front_ft_sensor">
<preserveFixedJoint>true</preserveFixedJoint>
<!-- For compatibility with SDFormat < 4.4 -->
<disableFixedJointLumping>true</disableFixedJointLumping>
</gazebo>
  <gazebo reference="l_foot_rear_ft_sensor">
<preserveFixedJoint>true</preserveFixedJoint>
<!-- For compatibility with SDFormat < 4.4 -->
<disableFixedJointLumping>true</disableFixedJointLumping>
</gazebo>
  <gazebo reference="l_foot_front">
  <collision> <surface> <bounce>
    <restitution_coefficient>0</restitution_coefficient>
    <threshold>100000</threshold>
  </bounce> </surface> </collision>
  <maxContacts>4</maxContacts>
  <kp>18000000</kp>
  <kd>100</kd>
  <maxVel>100</maxVel>
  <minDepth>0.0001</minDepth>
  <mu1>1</mu1>
  <mu2>1</mu2>
  <fdir1>0 0 0</fdir1>
</gazebo>
  <gazebo reference="l_foot_rear">
  <collision> <surface> <bounce>
    <restitution_coefficient>0</restitution_coefficient>
    <threshold>100000</threshold>
  </bounce> </surface> </collision>
  <maxContacts>4</maxContacts>
  <kp>18000000</kp>
  <kd>100</kd>
  <maxVel>100</maxVel>
  <minDepth>0.0001</minDepth>
  <mu1>1</mu1>
  <mu2>1</mu2>
  <fdir1>0 0 0</fdir1>
</gazebo>
  <gazebo>
  <plugin name="controlboard_left_leg" filename="libgazebo_yarp_controlboard.so">
    <yarpConfigurationFile>model://iRonCub-Mk3/iRonCub/conf/gazebo_icub_left_leg.ini</yarpConfigurationFile>
  </plugin>
</gazebo>
  <gazebo reference="l_leg_ft_sensor">
<preserveFixedJoint>true</preserveFixedJoint>
<!-- For compatibility with SDFormat < 4.4 -->
<disableFixedJointLumping>true</disableFixedJointLumping>
</gazebo>
  <gazebo reference="r_leg_ft_sensor">
<preserveFixedJoint>true</preserveFixedJoint>
<!-- For compatibility with SDFormat < 4.4 -->
<disableFixedJointLumping>true</disableFixedJointLumping>
</gazebo>
  <gazebo reference="r_foot_front_ft_sensor">
<preserveFixedJoint>true</preserveFixedJoint>
<!-- For compatibility with SDFormat < 4.4 -->
<disableFixedJointLumping>true</disableFixedJointLumping>
</gazebo>
  <gazebo reference="r_foot_rear_ft_sensor">
<preserveFixedJoint>true</preserveFixedJoint>
<!-- For compatibility with SDFormat < 4.4 -->
<disableFixedJointLumping>true</disableFixedJointLumping>
</gazebo>
  <gazebo reference="r_foot_front">
  <collision> <surface> <bounce>
    <restitution_coefficient>0</restitution_coefficient>
    <threshold>100000</threshold>
  </bounce> </surface> </collision>
  <maxContacts>4</maxContacts>
  <kp>18000000</kp>
  <kd>100</kd>
  <maxVel>100</maxVel>
  <minDepth>0.0001</minDepth>
  <mu1>1</mu1>
  <mu2>1</mu2>
  <fdir1>0 0 0</fdir1>
</gazebo>
  <gazebo reference="r_foot_rear">
  <collision> <surface> <bounce>
    <restitution_coefficient>0</restitution_coefficient>
    <threshold>100000</threshold>
  </bounce> </surface> </collision>
  <maxContacts>4</maxContacts>
  <kp>18000000</kp>
  <kd>100</kd>
  <maxVel>100</maxVel>
  <minDepth>0.0001</minDepth>
  <mu1>1</mu1>
  <mu2>1</mu2>
  <fdir1>0 0 0</fdir1>
</gazebo>
  <gazebo reference="r_hip_pitch">
    <implicitSpringDamper>1</implicitSpringDamper>
</gazebo>
  <gazebo reference="r_hip_roll">
    <implicitSpringDamper>1</implicitSpringDamper>
</gazebo>
  <gazebo reference="r_hip_yaw">
    <implicitSpringDamper>1</implicitSpringDamper>
</gazebo>
  <gazebo reference="r_knee">
    <implicitSpringDamper>1</implicitSpringDamper>
</gazebo>
  <gazebo reference="r_ankle_pitch">
    <implicitSpringDamper>1</implicitSpringDamper>
</gazebo>
  <gazebo reference="r_ankle_roll">
    <implicitSpringDamper>1</implicitSpringDamper>
</gazebo>
  <gazebo reference="l_hip_pitch">
    <implicitSpringDamper>1</implicitSpringDamper>
</gazebo>
  <gazebo reference="l_hip_roll">
    <implicitSpringDamper>1</implicitSpringDamper>
</gazebo>
  <gazebo reference="l_hip_yaw">
    <implicitSpringDamper>1</implicitSpringDamper>
</gazebo>
  <gazebo reference="l_knee">
    <implicitSpringDamper>1</implicitSpringDamper>
</gazebo>
  <gazebo reference="l_ankle_pitch">
    <implicitSpringDamper>1</implicitSpringDamper>
</gazebo>
  <gazebo reference="l_ankle_roll">
    <implicitSpringDamper>1</implicitSpringDamper>
</gazebo>
  <gazebo reference="torso_pitch">
    <implicitSpringDamper>1</implicitSpringDamper>
</gazebo>
  <gazebo reference="torso_roll">
    <implicitSpringDamper>1</implicitSpringDamper>
</gazebo>
  <gazebo reference="torso_yaw">
    <implicitSpringDamper>1</implicitSpringDamper>
</gazebo>
  <gazebo reference="r_shoulder_pitch">
    <implicitSpringDamper>1</implicitSpringDamper>
</gazebo>
  <gazebo reference="r_shoulder_roll">
    <implicitSpringDamper>1</implicitSpringDamper>
</gazebo>
  <gazebo reference="r_shoulder_yaw">
    <implicitSpringDamper>1</implicitSpringDamper>
</gazebo>
  <gazebo reference="l_shoulder_pitch">
    <implicitSpringDamper>1</implicitSpringDamper>
</gazebo>
  <gazebo reference="l_shoulder_roll">
    <implicitSpringDamper>1</implicitSpringDamper>
</gazebo>
  <gazebo reference="l_shoulder_yaw">
    <implicitSpringDamper>1</implicitSpringDamper>
</gazebo>
  <gazebo reference="l_elbow_turbine">
<disableFixedJointLumping>true</disableFixedJointLumping>
</gazebo>
  <gazebo reference="jetpack">
<disableFixedJointLumping>true</disableFixedJointLumping>
</gazebo>
  <gazebo reference="r_elbow_turbine">
<disableFixedJointLumping>true</disableFixedJointLumping>
</gazebo>
  <gazebo reference="neck_pitch">
<implicitSpringDamper>1</implicitSpringDamper>
</gazebo>
  <gazebo reference="neck_roll">
    <implicitSpringDamper>1</implicitSpringDamper>
</gazebo>
  <gazebo reference="neck_yaw">
    <implicitSpringDamper>1</implicitSpringDamper>
</gazebo>
  <gazebo reference="l_shoulder_pitch">
  <implicitSpringDamper>1</implicitSpringDamper>
</gazebo>
  <gazebo reference="l_shoulder_roll">
  <implicitSpringDamper>1</implicitSpringDamper>
</gazebo>
  <gazebo reference="l_shoulder_yaw">
  <implicitSpringDamper>1</implicitSpringDamper>
</gazebo>
  <gazebo reference="l_elbow">
  <implicitSpringDamper>1</implicitSpringDamper>
</gazebo>
  <gazebo reference="r_shoulder_pitch">
  <implicitSpringDamper>1</implicitSpringDamper>
</gazebo>
  <gazebo reference="r_shoulder_roll">
  <implicitSpringDamper>1</implicitSpringDamper>
</gazebo>
  <gazebo reference="r_shoulder_yaw">
  <implicitSpringDamper>1</implicitSpringDamper>
</gazebo>
  <gazebo reference="r_elbow">
  <implicitSpringDamper>1</implicitSpringDamper>
</gazebo>
  <gazebo>
<plugin name="controlboard_right_arm_no_hand" filename="libgazebo_yarp_controlboard.so">
  <yarpConfigurationFile>model://iRonCub-Mk3/iRonCub/conf/gazebo_icub_right_arm_no_hand_for_no_hand_model.ini</yarpConfigurationFile>
  <initialConfiguration>-0.52 0.52 0 0.785 0 0 0.0</initialConfiguration>
</plugin>
<plugin name="controlboard_left_arm_no_hand" filename="libgazebo_yarp_controlboard.so">
  <yarpConfigurationFile>model://iRonCub-Mk3/iRonCub/conf/gazebo_icub_left_arm_no_hand_for_no_hand_model.ini</yarpConfigurationFile>
  <initialConfiguration>-0.52 0.52 0 0.785 0 0 0.0</initialConfiguration>
</plugin>
<plugin name="controlboard_right_leg" filename="libgazebo_yarp_controlboard.so">
  <yarpConfigurationFile>model://iRonCub-Mk3/iRonCub/conf/gazebo_icub_right_leg.ini</yarpConfigurationFile>
</plugin>
<plugin name="controlboard_torso" filename="libgazebo_yarp_controlboard.so">
  <yarpConfigurationFile>model://iRonCub-Mk3/iRonCub/conf/gazebo_icub_torso.ini</yarpConfigurationFile>
</plugin>
<plugin name="controlboard_head_without_eyes" filename="libgazebo_yarp_controlboard.so">
  <yarpConfigurationFile>model://iRonCub-Mk3/iRonCub/conf/gazebo_icub_head_without_eyes_V2_7.ini</yarpConfigurationFile>
</plugin>
<plugin name="jets-plugin" filename="libjets-plugin.so">
  <yarpConfigurationFile>model://iRonCub-Mk3/iRonCub/conf/jets.ini</yarpConfigurationFile>
</plugin>
<plugin name="basestate" filename="libgazebo_yarp_basestate.so">
    <yarpConfigurationFile>model://iRonCub-Mk3/iRonCub/conf/base.ini</yarpConfigurationFile>
</plugin>
<plugin name="robotinterface" filename="libgazebo_yarp_robotinterface.so">
  <yarpRobotInterfaceConfigurationFile>model://iRonCub-Mk3/iRonCub/conf/iRonCub.xml</yarpRobotInterfaceConfigurationFile>
</plugin>
</gazebo>
  <gazebo reference="l_foot_rear">
    <visual>
      <material>
        <ambient>0.55 0.55 0.55 1.0</ambient>
        <diffuse>1.0 1.0 1.0 1.0</diffuse>
        <specular>0.6 0.6 0.6 1.0</specular>
      </material>
    </visual>
  </gazebo>
  <gazebo reference="l_foot_front">
    <visual>
      <material>
        <ambient>0.55 0.55 0.55 1.0</ambient>
        <diffuse>1.0 1.0 1.0 1.0</diffuse>
        <specular>0.6 0.6 0.6 1.0</specular>
      </material>
    </visual>
  </gazebo>
  <gazebo reference="r_foot_front">
    <visual>
      <material>
        <ambient>0.55 0.55 0.55 1.0</ambient>
        <diffuse>1.0 1.0 1.0 1.0</diffuse>
        <specular>0.6 0.6 0.6 1.0</specular>
      </material>
    </visual>
  </gazebo>
  <gazebo reference="r_foot_rear">
    <visual>
      <material>
        <ambient>0.55 0.55 0.55 1.0</ambient>
        <diffuse>1.0 1.0 1.0 1.0</diffuse>
        <specular>0.6 0.6 0.6 1.0</specular>
      </material>
    </visual>
  </gazebo>
  <gazebo reference="chest">
    <visual>
      <material>
        <ambient>0.18823499999999999 0.18823499999999999 0.18823499999999999 1.0</ambient>
        <diffuse>0.2823525 0.2823525 0.2823525 1.0</diffuse>
        <specular>0.18823499999999999 0.18823499999999999 0.18823499999999999 1.0</specular>
      </material>
    </visual>
  </gazebo>
  <gazebo reference="l_arm_ft_sensor">
    <sensor name="l_arm_ft" type="force_torque">
      <always_on>1</always_on>
      <update_rate>100</update_rate>
      <force_torque>
        <frame>child</frame>
        <measure_direction>child_to_parent</measure_direction>
      </force_torque>
      <plugin name="left_arm_ft_plugin" filename="libgazebo_yarp_forcetorque.so">
  <yarpConfigurationFile>model://iRonCub-Mk3/iRonCub/conf/FT/gazebo_icub_left_arm_ft.ini</yarpConfigurationFile>
</plugin>
    </sensor>
  </gazebo>
  <sensor name="l_arm_ft" type="force_torque">
    <parent joint="l_arm_ft_sensor"/>
    <force_torque>
      <frame>child</frame>
      <measure_direction>child_to_parent</measure_direction>
    </force_torque>
  </sensor>
  <gazebo reference="r_arm_ft_sensor">
    <sensor name="r_arm_ft" type="force_torque">
      <always_on>1</always_on>
      <update_rate>100</update_rate>
      <force_torque>
        <frame>child</frame>
        <measure_direction>child_to_parent</measure_direction>
      </force_torque>
      <plugin name="right_arm_ft_plugin" filename="libgazebo_yarp_forcetorque.so">
  <yarpConfigurationFile>model://iRonCub-Mk3/iRonCub/conf/FT/gazebo_icub_right_arm_ft.ini</yarpConfigurationFile>
</plugin>
    </sensor>
  </gazebo>
  <sensor name="r_arm_ft" type="force_torque">
    <parent joint="r_arm_ft_sensor"/>
    <force_torque>
      <frame>child</frame>
      <measure_direction>child_to_parent</measure_direction>
    </force_torque>
  </sensor>
  <gazebo reference="l_foot_front_ft_sensor">
    <sensor name="l_foot_front_ft" type="force_torque">
      <always_on>1</always_on>
      <update_rate>100</update_rate>
      <force_torque>
        <frame>child</frame>
        <measure_direction>child_to_parent</measure_direction>
      </force_torque>
      <plugin name="left_foot_front_ft_plugin" filename="libgazebo_yarp_forcetorque.so">
  <yarpConfigurationFile>model://iRonCub-Mk3/iRonCub/conf/FT/gazebo_icub_left_foot_front_ft.ini</yarpConfigurationFile>
</plugin>
    </sensor>
  </gazebo>
  <sensor name="l_foot_front_ft" type="force_torque">
    <parent joint="l_foot_front_ft_sensor"/>
    <force_torque>
      <frame>child</frame>
      <measure_direction>child_to_parent</measure_direction>
    </force_torque>
  </sensor>
  <gazebo reference="l_foot_rear_ft_sensor">
    <sensor name="l_foot_rear_ft" type="force_torque">
      <always_on>1</always_on>
      <update_rate>100</update_rate>
      <force_torque>
        <frame>child</frame>
        <measure_direction>child_to_parent</measure_direction>
      </force_torque>
      <plugin name="left_foot_rear_ft_plugin" filename="libgazebo_yarp_forcetorque.so">
  <yarpConfigurationFile>model://iRonCub-Mk3/iRonCub/conf/FT/gazebo_icub_left_foot_rear_ft.ini</yarpConfigurationFile>
</plugin>
    </sensor>
  </gazebo>
  <sensor name="l_foot_rear_ft" type="force_torque">
    <parent joint="l_foot_rear_ft_sensor"/>
    <force_torque>
      <frame>child</frame>
      <measure_direction>child_to_parent</measure_direction>
    </force_torque>
  </sensor>
  <gazebo reference="r_foot_front_ft_sensor">
    <sensor name="r_foot_front_ft" type="force_torque">
      <always_on>1</always_on>
      <update_rate>100</update_rate>
      <force_torque>
        <frame>child</frame>
        <measure_direction>child_to_parent</measure_direction>
      </force_torque>
      <plugin name="right_foot_front_ft_sensor_plugin" filename="libgazebo_yarp_forcetorque.so">
  <yarpConfigurationFile>model://iRonCub-Mk3/iRonCub/conf/FT/gazebo_icub_right_foot_front_ft.ini</yarpConfigurationFile>
</plugin>
    </sensor>
  </gazebo>
  <sensor name="r_foot_front_ft" type="force_torque">
    <parent joint="r_foot_front_ft_sensor"/>
    <force_torque>
      <frame>child</frame>
      <measure_direction>child_to_parent</measure_direction>
    </force_torque>
  </sensor>
  <gazebo reference="r_foot_rear_ft_sensor">
    <sensor name="r_foot_rear_ft" type="force_torque">
      <always_on>1</always_on>
      <update_rate>100</update_rate>
      <force_torque>
        <frame>child</frame>
        <measure_direction>child_to_parent</measure_direction>
      </force_torque>
      <plugin name="right_foot_rear_ft_sensor_plugin" filename="libgazebo_yarp_forcetorque.so">
  <yarpConfigurationFile>model://iRonCub-Mk3/iRonCub/conf/FT/gazebo_icub_right_foot_rear_ft.ini</yarpConfigurationFile>
</plugin>
    </sensor>
  </gazebo>
  <sensor name="r_foot_rear_ft" type="force_torque">
    <parent joint="r_foot_rear_ft_sensor"/>
    <force_torque>
      <frame>child</frame>
      <measure_direction>child_to_parent</measure_direction>
    </force_torque>
  </sensor>
  <gazebo reference="head">
    <sensor name="head_imu" type="imu">
      <always_on>1</always_on>
      <update_rate>100</update_rate>
      <pose>0.0035000000000000005 0.0055 0.10133400000000001 3.141592653589793 -0.0 -1.5707963267948966</pose>
      <plugin name="iCub_yarp_gazebo_plugin_IMU" filename="libgazebo_yarp_imu.so">
    <yarpConfigurationFile>model://iRonCub-Mk3/iRonCub/conf/gazebo_icub_inertial.ini</yarpConfigurationFile>
</plugin>
    </sensor>
  </gazebo>
  <sensor name="head_imu" type="accelerometer">
    <parent link="head"/>
    <origin rpy="3.141592653589793 -0.0 -1.5707963267948966" xyz="0.0035000000000000005 0.0055 0.10133400000000001"/>
  </sensor>
  <gazebo reference="chest">
    <sensor name="chest_imu" type="imu">
      <always_on>1</always_on>
      <update_rate>100</update_rate>
      <pose>0.100121 0.0076 0.0816279 -3.141592653589793 -1.5707963267948966 0.0</pose>
      <plugin name="chest_plugin_IMU" filename="libgazebo_yarp_imu.so">
    <yarpConfigurationFile>model://iRonCub-Mk3/iRonCub/conf/gazebo_icub_xsens_inertial.ini</yarpConfigurationFile>
</plugin>
    </sensor>
  </gazebo>
  <sensor name="chest_imu" type="accelerometer">
    <parent link="chest"/>
    <origin rpy="-3.141592653589793 -1.5707963267948966 0.0" xyz="0.100121 0.0076 0.0816279"/>
  </sensor>
  <gazebo>
    <pose>0.0 0.0 0.64 0.0 0.0 0.0</pose>
  </gazebo>
</robot>
